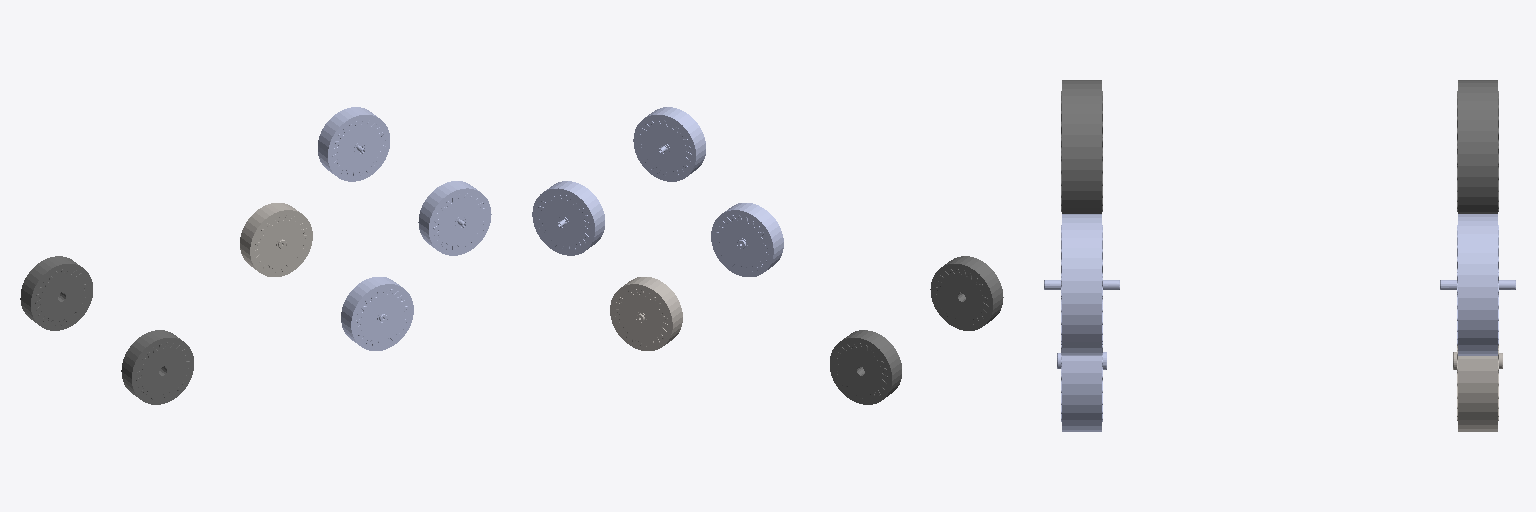
--- What the picture shows (computed from the rendered views, not written in the file) ---
Views: 3 orthographic renders of the robot side by side, from view 1: azimuth 30°, elevation 25°; view 2: azimuth 150°, elevation 25°; view 3: azimuth 270°, elevation 25°.
Robot: Boddy_ASM_URDF — 65 links, 64 joints (62 continuous, 2 fixed); root link base_footprint_link; default pose: every joint at zero.
Links seen in each view (by area): view 1: RF_link, LC_link, RR_link, RC_link, LR_link, LF_link; view 2: RR_link, LF_link, RF_link, LC_link, RC_link, LR_link; view 3: RF_link, LF_link, RR_link, LR_link, RC_link, LC_link.
Link boxes in pixels (x1,y1,x2,y2): RF_link: [418, 181, 491, 255]; LC_link: [240, 203, 312, 276]; RR_link: [121, 330, 193, 404]; RC_link: [341, 277, 413, 350]; LR_link: [20, 256, 92, 330]; LF_link: [318, 107, 389, 181]; RR_link: [930, 256, 1003, 330]; LF_link: [532, 181, 604, 255]; RF_link: [633, 107, 705, 181]; LC_link: [610, 277, 682, 350]; RC_link: [711, 203, 783, 276]; LR_link: [830, 330, 901, 404]; RF_link: [1044, 214, 1119, 355]; LF_link: [1440, 214, 1515, 355]; RR_link: [1061, 80, 1102, 213]; LR_link: [1457, 80, 1498, 213]; RC_link: [1057, 345, 1106, 431]; LC_link: [1453, 345, 1502, 431].
Bounding box of the posed robot: 0.9739 × 0.5635 × 0.3681 m (x, y, z).
6 mesh visuals loaded from 7 distinct referenced files (6 binary STL); not drawn: 1 (reference not matched to a file when rendering).

URDF robot description (Boddy_ASM_URDF):
<?xml version="1.0" encoding="utf-8"?>
<!-- This URDF was automatically created by SolidWorks to URDF Exporter! Originally created by Stephen Brawner ([email redacted]) 
     Commit Version: 1.6.0-1-g15f4949  Build Version: 1.6.7594.29634
     For more information, please see http://wiki.ros.org/sw_urdf_exporter -->
<robot
  name="Boddy_ASM_URDF">
  <link
    name="base_footprint_link">
    <inertial>
      <origin
        xyz="0.0886304970973052 -0.000665140812059151 0.142418053332497"
        rpy="0 0 0" />
      <!--<mass
        value="39.3142754467073" />
      <inertia
        ixx="0.188614637728355"
        ixy="0.000145945279032254"
        ixz="-0.175356144540221"
        iyy="1.08591744784198"
        iyz="-9.63685350508099E-08"
        izz="1.02996485886966" />-->
    </inertial>
    <!--<visual>
      <origin
        xyz="0 0 0"
        rpy="0 0 0" />
      <geometry>
        <mesh
          filename="package://Boddy_ASM_URDF/meshes/base_footprint_link.STL" />
      </geometry>
      <material
        name="">
        <color
          rgba="0.898039215686275 0.917647058823529 0.929411764705882 1" />
      </material>
    </visual>
    <collision>
      <origin
        xyz="0 0 0"
        rpy="0 0 0" />
      <geometry>
        <mesh
          filename="package://Boddy_ASM_URDF/meshes/base_footprint_link.STL" />
      </geometry>
    </collision>-->
  </link>
  <link
    name="base_link">
    <inertial>
      <origin
        xyz="0.0885022800321764 -0.000664311130172845 0.0998668100478159"
        rpy="0 0 0" />
      <mass
        value="60.0" />
      <inertia
        ixx="0.188631810597237"
        ixy="0.000146034969119567"
        ixz="-0.175356144540221"
        iyy="1.08594951471129"
        iyz="-9.63685350508217E-08"
        izz="1.02998223043314" />
    </inertial>
    <visual>
      <origin
        xyz="0 0 0"
        rpy="0 0 0" />
      <geometry>
        <mesh
          filename="package://Boddy_ASM_URDF/meshes/base_link.STL" />
      </geometry>
      <material
        name="">
        <color
          rgba="0.792156862745098 0.819607843137255 0.933333333333333 1" />
      </material>
    </visual>
    <collision>
      <origin
        xyz="0 0 0"
        rpy="0 0 0" />
      <geometry>
        <mesh
          filename="package://Boddy_ASM_URDF/meshes/base_link.STL" />
      </geometry>
    </collision>
  </link>
  <joint
    name="base_joint"
    type="fixed">
    <origin
      xyz="0 0 0.042500000000007"
      rpy="0 0 0" />
    <parent
      link="base_footprint_link" />
    <child
      link="base_link" />
    <axis
      xyz="0 0 0" />
  </joint>
  <link
    name="RR_link">
    <inertial>
      <origin
        xyz="-1.43149809520016E-06 -1.66533453693773E-16 -8.67103456958507E-06"
        rpy="0 0 0" />
      <mass
        value="1.00559653274061" />
      <inertia
        ixx="0.00203390050990004"
        ixy="-5.70414162439341E-18"
        ixz="1.70128504708999E-08"
        iyy="0.00366219642188027"
        iyz="6.1227440954987E-18"
        izz="0.00203400075341603" />
    </inertial>
    <visual>
      <origin
        xyz="0 0 0"
        rpy="0 0 0" />
      <geometry>
        <mesh
          filename="package://Boddy_ASM_URDF/meshes/RR_link.STL" />
      </geometry>
      <material
        name="">
        <color
          rgba="0.498039215686275 0.498039215686275 0.498039215686275 1" />
      </material>
    </visual>
    <collision>
      <origin
        xyz="0 0 0"
        rpy="0 0 0" />
      <geometry>
        <mesh
          filename="package://Boddy_ASM_URDF/meshes/RR_link.STL" />
      </geometry>
    </collision>
  </link>
  <joint
    name="RR_joint"
    type="continuous">
    <origin
      xyz="-0.23441 -0.23675 0.04"
      rpy="0 0 0" />
    <parent
      link="base_link" />
    <child
      link="RR_link" />
    <axis
      xyz="0 1 0" />
  </joint>
  <link
    name="RC_link">
    <inertial>
      <origin
        xyz="-1.38777878078145E-14 6.13173705731884E-05 1.58206781009085E-14"
        rpy="0 0 0" />
      <mass
        value="1.15086872360129" />
      <inertia
        ixx="0.00207722078878318"
        ixy="-2.16375942141872E-17"
        ixz="-3.43712572793804E-19"
        iyy="0.00367027539507047"
        iyz="6.1429085707683E-18"
        izz="0.00207722078878318" />
    </inertial>
    <visual>
      <origin
        xyz="0 0 0"
        rpy="0 0 0" />
      <geometry>
        <mesh
          filename="package://Boddy_ASM_URDF/meshes/RC_link.STL" />
      </geometry>
      <material
        name="">
        <color
          rgba="0.792156862745098 0.819607843137255 0.933333333333333 1" />
      </material>
    </visual>
    <collision>
      <origin
        xyz="0 0 0"
        rpy="0 0 0" />
      <geometry>
        <mesh
          filename="package://Boddy_ASM_URDF/meshes/RC_link.STL" />
      </geometry>
    </collision>
  </link>
  <joint
    name="RC_joint"
    type="continuous">
    <origin
      xyz="0.35959 -0.23675 0.04"
      rpy="0 0 0" />
    <parent
      link="base_link" />
    <child
      link="RC_link" />
    <axis
      xyz="0 1 0" />
  </joint>
  <link
    name="RF_link">
    <inertial>
      <origin
        xyz="-4.44089209850063E-16 1.66533453693773E-16 3.33066907387547E-16"
        rpy="0 0 0" />
      <mass
        value="1.02058176661685" />
      <inertia
        ixx="0.00203663882467359"
        ixy="-2.26850575924892E-17"
        ixz="-3.59650837282141E-20"
        iyy="0.00366291072602978"
        iyz="5.64154012666327E-18"
        izz="0.00203663882467359" />
    </inertial>
    <visual>
      <origin
        xyz="0 0 0"
        rpy="0 0 0" />
      <geometry>
        <mesh
          filename="package://Boddy_ASM_URDF/meshes/RF_link.STL" />
      </geometry>
      <material
        name="">
        <color
          rgba="0.792156862745098 0.819607843137255 0.933333333333333 1" />
      </material>
    </visual>
    <collision>
      <origin
        xyz="0 0 0"
        rpy="0 0 0" />
      <geometry>
        <mesh
          filename="package://Boddy_ASM_URDF/meshes/RF_link.STL" />
      </geometry>
    </collision>
  </link>
  <joint
    name="RF_joint"
    type="continuous">
    <origin
      xyz="0.5695 -0.23675 0.23814"
      rpy="0 0 0" />
    <parent
      link="base_link" />
    <child
      link="RF_link" />
    <axis
      xyz="0 1 0" />
  </joint>
  <link
    name="LR_link">
    <inertial>
      <origin
        xyz="2.01678320191356E-06 1.11022302462516E-16 -8.5538652853101E-06"
        rpy="0 0 0" />
      <mass
        value="1.00559653274061" />
      <inertia
        ixx="0.00203390327611052"
        ixy="-2.28103233706249E-17"
        ixz="-2.36448688868265E-08"
        iyy="0.00366219642188026"
        iyz="5.43986477440845E-18"
        izz="0.00203399798720556" />
    </inertial>
    <visual>
      <origin
        xyz="0 0 0"
        rpy="0 0 0" />
      <geometry>
        <mesh
          filename="package://Boddy_ASM_URDF/meshes/LR_link.STL" />
      </geometry>
      <material
        name="">
        <color
          rgba="0.498039215686275 0.498039215686275 0.498039215686275 1" />
      </material>
    </visual>
    <collision>
      <origin
        xyz="0 0 0"
        rpy="0 0 0" />
      <geometry>
        <mesh
          filename="package://Boddy_ASM_URDF/meshes/LR_link.STL" />
      </geometry>
    </collision>
  </link>
  <joint
    name="LR_joint"
    type="continuous">
    <origin
      xyz="-0.23441 0.23675 0.04"
      rpy="0 0 0" />
    <parent
      link="base_link" />
    <child
      link="LR_link" />
    <axis
      xyz="0 1 0" />
  </joint>
  <link
    name="LC_link">
    <inertial>
      <origin
        xyz="2.22044604925031E-16 -6.1317370563696E-05 1.66533453693773E-16"
        rpy="0 0 0" />
      <mass
        value="1.15086872360129" />
      <inertia
        ixx="0.00207722078878318"
        ixy="-2.3070709112146E-17"
        ixz="-1.73892246360263E-19"
        iyy="0.00367027539507048"
        iyz="6.08191825531369E-18"
        izz="0.00207722078878318" />
    </inertial>
    <visual>
      <origin
        xyz="0 0 0"
        rpy="0 0 0" />
      <geometry>
        <mesh
          filename="package://Boddy_ASM_URDF/meshes/LC_link.STL" />
      </geometry>
      <material
        name="">
        <color
          rgba="0.776470588235294 0.756862745098039 0.737254901960784 1" />
      </material>
    </visual>
    <collision>
      <origin
        xyz="0 0 0"
        rpy="0 0 0" />
      <geometry>
        <mesh
          filename="package://Boddy_ASM_URDF/meshes/LC_link.STL" />
      </geometry>
    </collision>
  </link>
  <joint
    name="LC_joint"
    type="continuous">
    <origin
      xyz="0.35959 0.23675 0.04"
      rpy="0 0 0" />
    <parent
      link="base_link" />
    <child
      link="LC_link" />
    <axis
      xyz="0 1 0" />
  </joint>
  <link
    name="LF_link">
    <inertial>
      <origin
        xyz="0 -8.88178419700125E-16 2.22044604925031E-16"
        rpy="0 0 0" />
      <mass
        value="1.02058176661685" />
      <inertia
        ixx="0.00203663882467359"
        ixy="-2.22358323420399E-17"
        ixz="-7.2754616081391E-19"
        iyy="0.00366291072602978"
        iyz="5.60191412891475E-18"
        izz="0.00203663882467359" />
    </inertial>
    <visual>
      <origin
        xyz="0 0 0"
        rpy="0 0 0" />
      <geometry>
        <mesh
          filename="package://Boddy_ASM_URDF/meshes/LF_link.STL" />
      </geometry>
      <material
        name="">
        <color
          rgba="0.792156862745098 0.819607843137255 0.933333333333333 1" />
      </material>
    </visual>
    <collision>
      <origin
        xyz="0 0 0"
        rpy="0 0 0" />
      <geometry>
        <mesh
          filename="package://Boddy_ASM_URDF/meshes/LF_link.STL" />
      </geometry>
    </collision>
  </link>
  <joint
    name="LF_joint"
    type="continuous">
    <origin
      xyz="0.5695 0.23675 0.23814"
      rpy="0 0 0" />
    <parent
      link="base_link" />
    <child
      link="LF_link" />
    <axis
      xyz="0 1 0" />
  </joint>









<!-- ================================================================================ -->

  <link
    name="r1_link">
    <inertial>
      <origin
        xyz="-1.40149809520016E-06 -1.66533453693773E-16 -8.67103456958507E-06"
        rpy="0 0 0" />
      <mass
        value="0.3" />
      <inertia
        ixx="0.00203390050990004"
        ixy="-5.70414162439341E-18"
        ixz="1.70128504708999E-08"
        iyy="0.00366219642188027"
        iyz="6.1227440954987E-18"
        izz="0.00203400075341603" />
    </inertial>
    <!--<visual>
      <origin
        xyz="0 0 0"
        rpy="0 0 0" />
      <geometry>
        <mesh
          filename="package://Boddy_ASM_URDF/meshes/RR_link.STL" />
      </geometry>
      <material
        name="">
        <color
          rgba="0.498039215686275 0.498039215686275 0.498039215686275 1" />
      </material>
    </visual>-->
    <collision>
      <origin
        xyz="0 0 0"
        rpy="0 0 0" />
      <geometry>
        <mesh
          filename="package://Boddy_ASM_URDF/meshes/RR_link.STL" />
      </geometry>
    </collision>
  </link>
  <joint
    name="r1_joint"
    type="continuous">
    <origin
      xyz="-0.20441 -0.23675 0.04"
      rpy="0 0 0" />
    <parent
      link="base_link" />
    <child
      link="r1_link" />
    <axis
      xyz="0 1 0" />
  </joint>


  <link
    name="r2_link">
    <inertial>
      <origin
        xyz="-1.37149809520016E-06 -1.66533453693773E-16 -8.67103456958507E-06"
        rpy="0 0 0" />
      <mass
        value="0.3" />
      <inertia
        ixx="0.00203390050990004"
        ixy="-5.70414162439341E-18"
        ixz="1.70128504708999E-08"
        iyy="0.00366219642188027"
        iyz="6.1227440954987E-18"
        izz="0.00203400075341603" />
    </inertial>
    <!--<visual>
      <origin
        xyz="0 0 0"
        rpy="0 0 0" />
      <geometry>
        <mesh
          filename="package://Boddy_ASM_URDF/meshes/RR_link.STL" />
      </geometry>
      <material
        name="">
        <color
          rgba="0.498039215686275 0.498039215686275 0.498039215686275 1" />
      </material>
    </visual>-->
    <collision>
      <origin
        xyz="0 0 0"
        rpy="0 0 0" />
      <geometry>
        <mesh
          filename="package://Boddy_ASM_URDF/meshes/RR_link.STL" />
      </geometry>
    </collision>
  </link>
  <joint
    name="r2_joint"
    type="continuous">
    <origin
      xyz="-0.17441 -0.23675 0.04"
      rpy="0 0 0" />
    <parent
      link="base_link" />
    <child
      link="r2_link" />
    <axis
      xyz="0 1 0" />
  </joint>


  <link
    name="r3_link">
    <inertial>
      <origin
        xyz="-1.34149809520016E-06 -1.66533453693773E-16 -8.67103456958507E-06"
        rpy="0 0 0" />
      <mass
        value="0.3" />
      <inertia
        ixx="0.00203390050990004"
        ixy="-5.70414162439341E-18"
        ixz="1.70128504708999E-08"
        iyy="0.00366219642188027"
        iyz="6.1227440954987E-18"
        izz="0.00203400075341603" />
    </inertial>
    <!--<visual>
      <origin
        xyz="0 0 0"
        rpy="0 0 0" />
      <geometry>
        <mesh
          filename="package://Boddy_ASM_URDF/meshes/RR_link.STL" />
      </geometry>
      <material
        name="">
        <color
          rgba="0.498039215686275 0.498039215686275 0.498039215686275 1" />
      </material>
    </visual>-->
    <collision>
      <origin
        xyz="0 0 0"
        rpy="0 0 0" />
      <geometry>
        <mesh
          filename="package://Boddy_ASM_URDF/meshes/RR_link.STL" />
      </geometry>
    </collision>
  </link>
  <joint
    name="r3_joint"
    type="continuous">
    <origin
      xyz="-0.14441 -0.23675 0.04"
      rpy="0 0 0" />
    <parent
      link="base_link" />
    <child
      link="r3_link" />
    <axis
      xyz="0 1 0" />
  </joint>


  <link
    name="r4_link">
    <inertial>
      <origin
        xyz="-1.31149809520016E-06 -1.66533453693773E-16 -8.67103456958507E-06"
        rpy="0 0 0" />
      <mass
        value="0.3" />
      <inertia
        ixx="0.00203390050990004"
        ixy="-5.70414162439341E-18"
        ixz="1.70128504708999E-08"
        iyy="0.00366219642188027"
        iyz="6.1227440954987E-18"
        izz="0.00203400075341603" />
    </inertial>
    <!--<visual>
      <origin
        xyz="0 0 0"
        rpy="0 0 0" />
      <geometry>
        <mesh
          filename="package://Boddy_ASM_URDF/meshes/RR_link.STL" />
      </geometry>
      <material
        name="">
        <color
          rgba="0.498039215686275 0.498039215686275 0.498039215686275 1" />
      </material>
    </visual>-->
    <collision>
      <origin
        xyz="0 0 0"
        rpy="0 0 0" />
      <geometry>
        <mesh
          filename="package://Boddy_ASM_URDF/meshes/RR_link.STL" />
      </geometry>
    </collision>
  </link>
  <joint
    name="r4_joint"
    type="continuous">
    <origin
      xyz="-0.11441 -0.23675 0.04"
      rpy="0 0 0" />
    <parent
      link="base_link" />
    <child
      link="r4_link" />
    <axis
      xyz="0 1 0" />
  </joint>


  <link
    name="r5_link">
    <inertial>
      <origin
        xyz="-1.28149809520016E-06 -1.66533453693773E-16 -8.67103456958507E-06"
        rpy="0 0 0" />
      <mass
        value="0.3" />
      <inertia
        ixx="0.00203390050990004"
        ixy="-5.70414162439341E-18"
        ixz="1.70128504708999E-08"
        iyy="0.00366219642188027"
        iyz="6.1227440954987E-18"
        izz="0.00203400075341603" />
    </inertial>
    <!--<visual>
      <origin
        xyz="0 0 0"
        rpy="0 0 0" />
      <geometry>
        <mesh
          filename="package://Boddy_ASM_URDF/meshes/RR_link.STL" />
      </geometry>
      <material
        name="">
        <color
          rgba="0.498039215686275 0.498039215686275 0.498039215686275 1" />
      </material>
    </visual>-->
    <collision>
      <origin
        xyz="0 0 0"
        rpy="0 0 0" />
      <geometry>
        <mesh
          filename="package://Boddy_ASM_URDF/meshes/RR_link.STL" />
      </geometry>
    </collision>
  </link>
  <joint
    name="r5_joint"
    type="continuous">
    <origin
      xyz="-0.08441 -0.23675 0.04"
      rpy="0 0 0" />
    <parent
      link="base_link" />
    <child
      link="r5_link" />
    <axis
      xyz="0 1 0" />
  </joint>

  <link
    name="r6_link">
    <inertial>
      <origin
        xyz="-1.25149809520016E-06 -1.66533453693773E-16 -8.67103456958507E-06"
        rpy="0 0 0" />
      <mass
        value="0.3" />
      <inertia
        ixx="0.00203390050990004"
        ixy="-5.70414162439341E-18"
        ixz="1.70128504708999E-08"
        iyy="0.00366219642188027"
        iyz="6.1227440954987E-18"
        izz="0.00203400075341603" />
    </inertial>
    <!--<visual>
      <origin
        xyz="0 0 0"
        rpy="0 0 0" />
      <geometry>
        <mesh
          filename="package://Boddy_ASM_URDF/meshes/RR_link.STL" />
      </geometry>
      <material
        name="">
        <color
          rgba="0.498039215686275 0.498039215686275 0.498039215686275 1" />
      </material>
    </visual>-->
    <collision>
      <origin
        xyz="0 0 0"
        rpy="0 0 0" />
      <geometry>
        <mesh
          filename="package://Boddy_ASM_URDF/meshes/RR_link.STL" />
      </geometry>
    </collision>
  </link>
  <joint
    name="r6_joint"
    type="continuous">
    <origin
      xyz="-0.05441 -0.23675 0.04"
      rpy="0 0 0" />
    <parent
      link="base_link" />
    <child
      link="r6_link" />
    <axis
      xyz="0 1 0" />
  </joint>

  <link
    name="r7_link">
    <inertial>
      <origin
        xyz="-1.22149809520016E-06 -1.66533453693773E-16 -8.67103456958507E-06"
        rpy="0 0 0" />
      <mass
        value="0.3" />
      <inertia
        ixx="0.00203390050990004"
        ixy="-5.70414162439341E-18"
        ixz="1.70128504708999E-08"
        iyy="0.00366219642188027"
        iyz="6.1227440954987E-18"
        izz="0.00203400075341603" />
    </inertial>
    <!--<visual>
      <origin
        xyz="0 0 0"
        rpy="0 0 0" />
      <geometry>
        <mesh
          filename="package://Boddy_ASM_URDF/meshes/RR_link.STL" />
      </geometry>
      <material
        name="">
        <color
          rgba="0.498039215686275 0.498039215686275 0.498039215686275 1" />
      </material>
    </visual>-->
    <collision>
      <origin
        xyz="0 0 0"
        rpy="0 0 0" />
      <geometry>
        <mesh
          filename="package://Boddy_ASM_URDF/meshes/RR_link.STL" />
      </geometry>
    </collision>
  </link>
  <joint
    name="r7_joint"
    type="continuous">
    <origin
      xyz="-0.02441 -0.23675 0.04"
      rpy="0 0 0" />
    <parent
      link="base_link" />
    <child
      link="r7_link" />
    <axis
      xyz="0 1 0" />
  </joint>


  <link
    name="r8_link">
    <inertial>
      <origin
        xyz="-1.19149809520016E-06 -1.66533453693773E-16 -8.67103456958507E-06"
        rpy="0 0 0" />
      <mass
        value="0.3" />
      <inertia
        ixx="0.00203390050990004"
        ixy="-5.70414162439341E-18"
        ixz="1.70128504708999E-08"
        iyy="0.00366219642188027"
        iyz="6.1227440954987E-18"
        izz="0.00203400075341603" />
    </inertial>
    <!--<visual>
      <origin
        xyz="0 0 0"
        rpy="0 0 0" />
      <geometry>
        <mesh
          filename="package://Boddy_ASM_URDF/meshes/RR_link.STL" />
      </geometry>
      <material
        name="">
        <color
          rgba="0.498039215686275 0.498039215686275 0.498039215686275 1" />
      </material>
    </visual>-->
    <collision>
      <origin
        xyz="0 0 0"
        rpy="0 0 0" />
      <geometry>
        <mesh
          filename="package://Boddy_ASM_URDF/meshes/RR_link.STL" />
      </geometry>
    </collision>
  </link>
  <joint
    name="r8_joint"
    type="continuous">
    <origin
      xyz="0.01441 -0.23675 0.04"
      rpy="0 0 0" />
    <parent
      link="base_link" />
    <child
      link="r8_link" />
    <axis
      xyz="0 1 0" />
  </joint>


  <link
    name="r9_link">
    <inertial>
      <origin
        xyz="-1.16149809520016E-06 -1.66533453693773E-16 -8.67103456958507E-06"
        rpy="0 0 0" />
      <mass
        value="0.3" />
      <inertia
        ixx="0.00203390050990004"
        ixy="-5.70414162439341E-18"
        ixz="1.70128504708999E-08"
        iyy="0.00366219642188027"
        iyz="6.1227440954987E-18"
        izz="0.00203400075341603" />
    </inertial>
    <!--<visual>
      <origin
        xyz="0 0 0"
        rpy="0 0 0" />
      <geometry>
        <mesh
          filename="package://Boddy_ASM_URDF/meshes/RR_link.STL" />
      </geometry>
      <material
        name="">
        <color
          rgba="0.498039215686275 0.498039215686275 0.498039215686275 1" />
      </material>
    </visual>-->
    <collision>
      <origin
        xyz="0 0 0"
        rpy="0 0 0" />
      <geometry>
        <mesh
          filename="package://Boddy_ASM_URDF/meshes/RR_link.STL" />
      </geometry>
    </collision>
  </link>
  <joint
    name="r9_joint"
    type="continuous">
    <origin
      xyz="0.04441 -0.23675 0.04"
      rpy="0 0 0" />
    <parent
      link="base_link" />
    <child
      link="r9_link" />
    <axis
      xyz="0 1 0" />
  </joint>

  <link
    name="r10_link">
    <inertial>
      <origin
        xyz="-1.13149809520016E-06 -1.66533453693773E-16 -8.67103456958507E-06"
        rpy="0 0 0" />
      <mass
        value="0.3" />
      <inertia
        ixx="0.00203390050990004"
        ixy="-5.70414162439341E-18"
        ixz="1.70128504708999E-08"
        iyy="0.00366219642188027"
        iyz="6.1227440954987E-18"
        izz="0.00203400075341603" />
    </inertial>
    <!--<visual>
      <origin
        xyz="0 0 0"
        rpy="0 0 0" />
      <geometry>
        <mesh
          filename="package://Boddy_ASM_URDF/meshes/RR_link.STL" />
      </geometry>
      <material
        name="">
        <color
          rgba="0.498039215686275 0.498039215686275 0.498039215686275 1" />
      </material>
    </visual>-->
    <collision>
      <origin
        xyz="0 0 0"
        rpy="0 0 0" />
      <geometry>
        <mesh
          filename="package://Boddy_ASM_URDF/meshes/RR_link.STL" />
      </geometry>
    </collision>
  </link>
  <joint
    name="r10_joint"
    type="continuous">
    <origin
      xyz="0.07441 -0.23675 0.04"
      rpy="0 0 0" />
    <parent
      link="base_link" />
    <child
      link="r10_link" />
    <axis
      xyz="0 1 0" />
  </joint>


  <link
    name="r11_link">
    <inertial>
      <origin
        xyz="-1.10149809520016E-06 -1.66533453693773E-16 -8.67103456958507E-06"
        rpy="0 0 0" />
      <mass
        value="0.3" />
      <inertia
        ixx="0.00203390050990004"
        ixy="-5.70414162439341E-18"
        ixz="1.70128504708999E-08"
        iyy="0.00366219642188027"
        iyz="6.1227440954987E-18"
        izz="0.00203400075341603" />
    </inertial>
    <!--<visual>
      <origin
        xyz="0 0 0"
        rpy="0 0 0" />
      <geometry>
        <mesh
          filename="package://Boddy_ASM_URDF/meshes/RR_link.STL" />
      </geometry>
      <material
        name="">
        <color
          rgba="0.498039215686275 0.498039215686275 0.498039215686275 1" />
      </material>
    </visual>-->
    <collision>
      <origin
        xyz="0 0 0"
        rpy="0 0 0" />
      <geometry>
        <mesh
          filename="package://Boddy_ASM_URDF/meshes/RR_link.STL" />
      </geometry>
    </collision>
  </link>
  <joint
    name="r11_joint"
    type="continuous">
    <origin
      xyz="0.10441 -0.23675 0.04"
      rpy="0 0 0" />
    <parent
      link="base_link" />
    <child
      link="r11_link" />
    <axis
      xyz="0 1 0" />
  </joint>


  <link
    name="r12_link">
    <inertial>
      <origin
        xyz="-1.07149809520016E-06 -1.66533453693773E-16 -8.67103456958507E-06"
        rpy="0 0 0" />
      <mass
        value="0.3" />
      <inertia
        ixx="0.00203390050990004"
        ixy="-5.70414162439341E-18"
        ixz="1.70128504708999E-08"
        iyy="0.00366219642188027"
        iyz="6.1227440954987E-18"
        izz="0.00203400075341603" />
    </inertial>
    <!--<visual>
      <origin
        xyz="0 0 0"
        rpy="0 0 0" />
      <geometry>
        <mesh
          filename="package://Boddy_ASM_URDF/meshes/RR_link.STL" />
      </geometry>
      <material
        name="">
        <color
          rgba="0.498039215686275 0.498039215686275 0.498039215686275 1" />
      </material>
    </visual>-->
    <collision>
      <origin
        xyz="0 0 0"
        rpy="0 0 0" />
      <geometry>
        <mesh
          filename="package://Boddy_ASM_URDF/meshes/RR_link.STL" />
      </geometry>
    </collision>
  </link>
  <joint
    name="r12_joint"
    type="continuous">
    <origin
      xyz="0.13441 -0.23675 0.04"
      rpy="0 0 0" />
    <parent
      link="base_link" />
    <child
      link="r12_link" />
    <axis
      xyz="0 1 0" />
  </joint>

  <link
    name="r13_link">
    <inertial>
      <origin
        xyz="-1.04149809520016E-06 -1.66533453693773E-16 -8.67103456958507E-06"
        rpy="0 0 0" />
      <mass
        value="0.3" />
      <inertia
        ixx="0.00203390050990004"
        ixy="-5.70414162439341E-18"
        ixz="1.70128504708999E-08"
        iyy="0.00366219642188027"
        iyz="6.1227440954987E-18"
        izz="0.00203400075341603" />
    </inertial>
    <!--<visual>
      <origin
        xyz="0 0 0"
        rpy="0 0 0" />
      <geometry>
        <mesh
          filename="package://Boddy_ASM_URDF/meshes/RR_link.STL" />
      </geometry>
      <material
        name="">
        <color
          rgba="0.498039215686275 0.498039215686275 0.498039215686275 1" />
      </material>
    </visual>-->
    <collision>
      <origin
        xyz="0 0 0"
        rpy="0 0 0" />
      <geometry>
        <mesh
          filename="package://Boddy_ASM_URDF/meshes/RR_link.STL" />
      </geometry>
    </collision>
  </link>
  <joint
    name="r13_joint"
    type="continuous">
    <origin
      xyz="0.16441 -0.23675 0.04"
      rpy="0 0 0" />
    <parent
      link="base_link" />
    <child
      link="r13_link" />
    <axis
      xyz="0 1 0" />
  </joint>

  <link
    name="r14_link">
    <inertial>
      <origin
        xyz="-1.01149809520016E-06 -1.66533453693773E-16 -8.67103456958507E-06"
        rpy="0 0 0" />
      <mass
        value="0.3" />
      <inertia
        ixx="0.00203390050990004"
        ixy="-5.70414162439341E-18"
        ixz="1.70128504708999E-08"
        iyy="0.00366219642188027"
        iyz="6.1227440954987E-18"
        izz="0.00203400075341603" />
    </inertial>
    <!--<visual>
      <origin
        xyz="0 0 0"
        rpy="0 0 0" />
      <geometry>
        <mesh
          filename="package://Boddy_ASM_URDF/meshes/RR_link.STL" />
      </geometry>
      <material
        name="">
        <color
          rgba="0.498039215686275 0.498039215686275 0.498039215686275 1" />
      </material>
    </visual>-->
    <collision>
      <origin
        xyz="0 0 0"
        rpy="0 0 0" />
      <geometry>
        <mesh
          filename="package://Boddy_ASM_URDF/meshes/RR_link.STL" />
      </geometry>
    </collision>
  </link>
  <joint
    name="r14_joint"
    type="continuous">
    <origin
      xyz="0.19441 -0.23675 0.04"
      rpy="0 0 0" />
    <parent
      link="base_link" />
    <child
      link="r14_link" />
    <axis
      xyz="0 1 0" />
  </joint>



  <link
    name="r15_link">
    <inertial>
      <origin
        xyz="-0.98149809520016E-06 -1.66533453693773E-16 -8.67103456958507E-06"
        rpy="0 0 0" />
      <mass
        value="0.3" />
      <inertia
        ixx="0.00203390050990004"
        ixy="-5.70414162439341E-18"
        ixz="1.70128504708999E-08"
        iyy="0.00366219642188027"
        iyz="6.1227440954987E-18"
        izz="0.00203400075341603" />
    </inertial>
    <!--<visual>
      <origin
        xyz="0 0 0"
        rpy="0 0 0" />
      <geometry>
        <mesh
          filename="package://Boddy_ASM_URDF/meshes/RR_link.STL" />
      </geometry>
      <material
        name="">
        <color
          rgba="0.498039215686275 0.498039215686275 0.498039215686275 1" />
      </material>
    </visual>-->
    <collision>
      <origin
        xyz="0 0 0"
        rpy="0 0 0" />
      <geometry>
        <mesh
          filename="package://Boddy_ASM_URDF/meshes/RR_link.STL" />
      </geometry>
    </collision>
  </link>
  <joint
    name="r15_joint"
    type="continuous">
    <origin
      xyz="0.22441 -0.23675 0.04"
      rpy="0 0 0" />
    <parent
      link="base_link" />
    <child
      link="r15_link" />
    <axis
      xyz="0 1 0" />
  </joint>


  <link
    name="r16_link">
    <inertial>
      <origin
        xyz="-0.95149809520016E-06 -1.66533453693773E-16 -8.67103456958507E-06"
        rpy="0 0 0" />
      <mass
        value="0.3" />
      <inertia
        ixx="0.00203390050990004"
        ixy="-5.70414162439341E-18"
        ixz="1.70128504708999E-08"
        iyy="0.00366219642188027"
        iyz="6.1227440954987E-18"
        izz="0.00203400075341603" />
    </inertial>
    <!--<visual>
      <origin
        xyz="0 0 0"
        rpy="0 0 0" />
      <geometry>
        <mesh
          filename="package://Boddy_ASM_URDF/meshes/RR_link.STL" />
      </geometry>
      <material
        name="">
        <color
          rgba="0.498039215686275 0.498039215686275 0.498039215686275 1" />
      </material>
    </visual>-->
    <collision>
      <origin
        xyz="0 0 0"
        rpy="0 0 0" />
      <geometry>
        <mesh
          filename="package://Boddy_ASM_URDF/meshes/RR_link.STL" />
      </geometry>
    </collision>
  </link>
  <joint
    name="r16_joint"
    type="continuous">
    <origin
      xyz="0.25441 -0.23675 0.04"
      rpy="0 0 0" />
    <parent
      link="base_link" />
    <child
      link="r16_link" />
    <axis
      xyz="0 1 0" />
  </joint>

  <link
    name="r17_link">
    <inertial>
      <origin
        xyz="-0.92149809520016E-06 -1.66533453693773E-16 -8.67103456958507E-06"
        rpy="0 0 0" />
      <mass
        value="0.3" />
      <inertia
        ixx="0.00203390050990004"
        ixy="-5.70414162439341E-18"
        ixz="1.70128504708999E-08"
        iyy="0.00366219642188027"
        iyz="6.1227440954987E-18"
        izz="0.00203400075341603" />
    </inertial>
    <!--<visual>
      <origin
        xyz="0 0 0"
        rpy="0 0 0" />
      <geometry>
        <mesh
          filename="package://Boddy_ASM_URDF/meshes/RR_link.STL" />
      </geometry>
      <material
        name="">
        <color
          rgba="0.498039215686275 0.498039215686275 0.498039215686275 1" />
      </material>
    </visual>-->
    <collision>
      <origin
        xyz="0 0 0"
        rpy="0 0 0" />
      <geometry>
        <mesh
          filename="package://Boddy_ASM_URDF/meshes/RR_link.STL" />
      </geometry>
    </collision>
  </link>
  <joint
    name="r17_joint"
    type="continuous">
    <origin
      xyz="0.28441 -0.23675 0.04"
      rpy="0 0 0" />
    <parent
      link="base_link" />
    <child
      link="r17_link" />
    <axis
      xyz="0 1 0" />
  </joint>


  <link
    name="r18_link">
    <inertial>
      <origin
        xyz="-0.89149809520016E-06 -1.66533453693773E-16 -8.67103456958507E-06"
        rpy="0 0 0" />
      <mass
        value="0.3" />
      <inertia
        ixx="0.00203390050990004"
        ixy="-5.70414162439341E-18"
        ixz="1.70128504708999E-08"
        iyy="0.00366219642188027"
        iyz="6.1227440954987E-18"
        izz="0.00203400075341603" />
    </inertial>
    <!--<visual>
      <origin
        xyz="0 0 0"
        rpy="0 0 0" />
      <geometry>
        <mesh
          filename="package://Boddy_ASM_URDF/meshes/RR_link.STL" />
      </geometry>
      <material
        name="">
        <color
          rgba="0.498039215686275 0.498039215686275 0.498039215686275 1" />
      </material>
    </visual>-->
    <collision>
      <origin
        xyz="0 0 0"
        rpy="0 0 0" />
      <geometry>
        <mesh
          filename="package://Boddy_ASM_URDF/meshes/RR_link.STL" />
      </geometry>
    </collision>
  </link>
  <joint
    name="r18_joint"
    type="continuous">
    <origin
      xyz="0.31441 -0.23675 0.04"
      rpy="0 0 0" />
    <parent
      link="base_link" />
    <child
      link="r18_link" />
    <axis
      xyz="0 1 0" />
  </joint>


  <link
    name="r19_link">
    <inertial>
      <origin
        xyz="-0.86149809520016E-06 -1.66533453693773E-16 -8.67103456958507E-06"
        rpy="0 0 0" />
      <mass
        value="0.3" />
      <inertia
        ixx="0.00203390050990004"
        ixy="-5.70414162439341E-18"
        ixz="1.70128504708999E-08"
        iyy="0.00366219642188027"
        iyz="6.1227440954987E-18"
        izz="0.00203400075341603" />
    </inertial>
    <!--<visual>
      <origin
        xyz="0 0 0"
        rpy="0 0 0" />
      <geometry>
        <mesh
          filename="package://Boddy_ASM_URDF/meshes/RR_link.STL" />
      </geometry>
      <material
        name="">
        <color
          rgba="0.498039215686275 0.498039215686275 0.498039215686275 1" />
      </material>
    </visual>-->
    <collision>
      <origin
        xyz="0 0 0"
        rpy="0 0 0" />
      <geometry>
        <mesh
          filename="package://Boddy_ASM_URDF/meshes/RR_link.STL" />
      </geometry>
    </collision>
  </link>
  <joint
    name="r19_joint"
    type="continuous">
    <origin
      xyz="0.34441 -0.23675 0.04"
      rpy="0 0 0" />
    <parent
      link="base_link" />
    <child
      link="r19_link" />
    <axis
      xyz="0 1 0" />
  </joint>
<!-- ================================================================================ -->
<!-- x +2.3, z+2.0 -->

  <link
    name="r20_link">
    <inertial>
      <origin
        xyz="-1.36577878078145E-14 6.13173705731884E-05 1.60206781009085E-14"
        rpy="0 0 0" />
      <mass
        value="0.3" />
      <inertia
        ixx="0.00207722078878318"
        ixy="-2.16375942141872E-17"
        ixz="-3.43712572793804E-19"
        iyy="0.00367027539507047"
        iyz="6.1429085707683E-18"
        izz="0.00207722078878318" />
    </inertial>
    <!--<visual>
      <origin
        xyz="0 0 0"
        rpy="0 0 0" />
      <geometry>
        <mesh
          filename="package://Boddy_ASM_URDF/meshes/RC_link.STL" />
      </geometry>
      <material
        name="">
        <color
          rgba="0.792156862745098 0.819607843137255 0.933333333333333 1" />
      </material>
    </visual>-->
    <collision>
      <origin
        xyz="0 0 0"
        rpy="0 0 0" />
      <geometry>
        <mesh
          filename="package://Boddy_ASM_URDF/meshes/RC_link.STL" />
      </geometry>
    </collision>
  </link>
  <joint
    name="r20_joint"
    type="continuous">
    <origin
      xyz="0.38159 -0.23675 0.06"
      rpy="0 0 0" />
    <parent
      link="base_link" />
    <child
      link="r20_link" />
    <axis
      xyz="0 1 0" />
  </joint>


  <link
    name="r21_link">
    <inertial>
      <origin
        xyz="-1.34377878078145E-14 6.13173705731884E-05 1.62206781009085E-14"
        rpy="0 0 0" />
      <mass
        value="0.3" />
      <inertia
        ixx="0.00207722078878318"
        ixy="-2.16375942141872E-17"
        ixz="-3.43712572793804E-19"
        iyy="0.00367027539507047"
        iyz="6.1429085707683E-18"
        izz="0.00207722078878318" />
    </inertial>
    <!--<visual>
      <origin
        xyz="0 0 0"
        rpy="0 0 0" />
      <geometry>
        <mesh
          filename="package://Boddy_ASM_URDF/meshes/RC_link.STL" />
      </geometry>
      <material
        name="">
        <color
          rgba="0.792156862745098 0.819607843137255 0.933333333333333 1" />
      </material>
    </visual>-->
    <collision>
      <origin
        xyz="0 0 0"
        rpy="0 0 0" />
      <geometry>
        <mesh
          filename="package://Boddy_ASM_URDF/meshes/RC_link.STL" />
      </geometry>
    </collision>
  </link>
  <joint
    name="r21_joint"
    type="continuous">
    <origin
      xyz="0.40359 -0.23675 0.08"
      rpy="0 0 0" />
    <parent
      link="base_link" />
    <child
      link="r21_link" />
    <axis
      xyz="0 1 0" />
  </joint>


  <link
    name="r22_link">
    <inertial>
      <origin
        xyz="-1.32177878078145E-14 6.13173705731884E-05 1.62206781009085E-14"
        rpy="0 0 0" />
      <mass
        value="0.3" />
      <inertia
        ixx="0.00207722078878318"
        ixy="-2.16375942141872E-17"
        ixz="-3.43712572793804E-19"
        iyy="0.00367027539507047"
        iyz="6.1429085707683E-18"
        izz="0.00207722078878318" />
    </inertial>
    <!--<visual>
      <origin
        xyz="0 0 0"

        rpy="0 0 0" />
      <geometry>
        <mesh
          filename="package://Boddy_ASM_URDF/meshes/RC_link.STL" />
      </geometry>
      <material
        name="">
        <color
          rgba="0.792156862745098 0.819607843137255 0.933333333333333 1" />
      </material>
    </visual>-->
    <collision>
      <origin
        xyz="0 0 0"
        rpy="0 0 0" />
      <geometry>
        <mesh
          filename="package://Boddy_ASM_URDF/meshes/RC_link.STL" />
      </geometry>
    </collision>
  </link>
  <joint
    name="r22_joint"
    type="continuous">
    <origin
      xyz="0.42759 -0.23675 0.10"
      rpy="0 0 0" />
    <parent
      link="base_link" />
    <child
      link="r22_link" />
    <axis
      xyz="0 1 0" />
  </joint>

  <link
    name="r23_link">
    <inertial>
      <origin
        xyz="-1.39977878078145E-14 6.13173705731884E-05 1.64206781009085E-14"
        rpy="0 0 0" />
      <mass
        value="0.3" />
      <inertia
        ixx="0.00207722078878318"
        ixy="-2.16375942141872E-17"
        ixz="-3.43712572793804E-19"
        iyy="0.00367027539507047"
        iyz="6.1429085707683E-18"
        izz="0.00207722078878318" />
    </inertial>
    <!--<visual>
      <origin
        xyz="0 0 0"

        rpy="0 0 0" />
      <geometry>
        <mesh
          filename="package://Boddy_ASM_URDF/meshes/RC_link.STL" />
      </geometry>
      <material
        name="">
        <color
          rgba="0.792156862745098 0.819607843137255 0.933333333333333 1" />
      </material>
    </visual>-->
    <collision>
      <origin
        xyz="0 0 0"
        rpy="0 0 0" />
      <geometry>
        <mesh
          filename="package://Boddy_ASM_URDF/meshes/RC_link.STL" />
      </geometry>
    </collision>
  </link>
  <joint
    name="r23_joint"
    type="continuous">
    <origin
      xyz="0.44959 -0.23675 0.12"
      rpy="0 0 0" />
    <parent
      link="base_link" />
    <child
      link="r23_link" />
    <axis
      xyz="0 1 0" />
  </joint>

  <link
    name="r24_link">
    <inertial>
      <origin
        xyz="-1.37777878078145E-14 6.13173705731884E-05 1.66206781009085E-14"
        rpy="0 0 0" />
      <mass
        value="0.3" />
      <inertia
        ixx="0.00207722078878318"
        ixy="-2.16375942141872E-17"
        ixz="-3.43712572793804E-19"
        iyy="0.00367027539507047"
        iyz="6.1429085707683E-18"
        izz="0.00207722078878318" />
    </inertial>
    <!--<visual>
      <origin
        xyz="0 0 0"

        rpy="0 0 0" />
      <geometry>
        <mesh
          filename="package://Boddy_ASM_URDF/meshes/RC_link.STL" />
      </geometry>
      <material
        name="">
        <color
          rgba="0.792156862745098 0.819607843137255 0.933333333333333 1" />
      </material>
    </visual>-->
    <collision>
      <origin
        xyz="0 0 0"
        rpy="0 0 0" />
      <geometry>
        <mesh
          filename="package://Boddy_ASM_URDF/meshes/RC_link.STL" />
      </geometry>
    </collision>
  </link>
  <joint
    name="r24_joint"
    type="continuous">
    <origin
      xyz="0.47159 -0.23675 0.14"
      rpy="0 0 0" />
    <parent
      link="base_link" />
    <child
      link="r24_link" />
    <axis
      xyz="0 1 0" />
  </joint>


  <link
    name="r25_link">
    <inertial>
      <origin
        xyz="-1.35577878078145E-14 6.13173705731884E-05 1.68206781009085E-14"
        rpy="0 0 0" />
      <mass
        value="0.3" />
      <inertia
        ixx="0.00207722078878318"
        ixy="-2.16375942141872E-17"
        ixz="-3.43712572793804E-19"
        iyy="0.00367027539507047"
        iyz="6.1429085707683E-18"
        izz="0.00207722078878318" />
    </inertial>
    <!--<visual>
      <origin
        xyz="0 0 0"

        rpy="0 0 0" />
      <geometry>
        <mesh
          filename="package://Boddy_ASM_URDF/meshes/RC_link.STL" />
      </geometry>
      <material
        name="">
        <color
          rgba="0.792156862745098 0.819607843137255 0.933333333333333 1" />
      </material>
    </visual>-->
    <collision>
      <origin
        xyz="0 0 0"

        rpy="0 0 0" />
      <geometry>
        <mesh
          filename="package://Boddy_ASM_URDF/meshes/RC_link.STL" />
      </geometry>
    </collision>
  </link>
  <joint
    name="r25_joint"
    type="continuous">
    <origin
      xyz="0.49359 -0.23675 0.16"
      rpy="0 0 0" />
    <parent
      link="base_link" />
    <child
      link="r25_link" />
    <axis
      xyz="0 1 0" />
  </joint>

  <link
    name="r26_link">
    <inertial>
      <origin
        xyz="-1.33377878078145E-14 6.13173705731884E-05 1.70206781009085E-14"
        rpy="0 0 0" />
      <mass
        value="0.3" />
      <inertia
        ixx="0.00207722078878318"
        ixy="-2.16375942141872E-17"
        ixz="-3.43712572793804E-19"
        iyy="0.00367027539507047"
        iyz="6.1429085707683E-18"
        izz="0.00207722078878318" />
    </inertial>
    <!--<visual>
      <origin
        xyz="0 0 0"

        rpy="0 0 0" />
      <geometry>
        <mesh
          filename="package://Boddy_ASM_URDF/meshes/RC_link.STL" />
      </geometry>
      <material
        name="">
        <color
          rgba="0.792156862745098 0.819607843137255 0.933333333333333 1" />
      </material>
    </visual>-->
    <collision>
      <origin
        xyz="0 0 0"
        rpy="0 0 0" />
      <geometry>
        <mesh
          filename="package://Boddy_ASM_URDF/meshes/RC_link.STL" />
      </geometry>
    </collision>
  </link>
  <joint
    name="r26_joint"
    type="continuous">
    <origin
      xyz="0.51559 -0.23675 0.18"
      rpy="0 0 0" />
    <parent
      link="base_link" />
    <child
      link="r26_link" />
    <axis
      xyz="0 1 0" />
  </joint>

  <link
    name="r27_link">
    <inertial>
      <origin
        xyz="-1.31177878078145E-14 6.13173705731884E-05 1.72206781009085E-14"
        rpy="0 0 0" />
      <mass
        value="0.3" />
      <inertia
        ixx="0.00207722078878318"
        ixy="-2.16375942141872E-17"
        ixz="-3.43712572793804E-19"
        iyy="0.00367027539507047"
        iyz="6.1429085707683E-18"
        izz="0.00207722078878318" />
    </inertial>
    <!--<visual>
      <origin
        xyz="0 0 0"

        rpy="0 0 0" />
      <geometry>
        <mesh
          filename="package://Boddy_ASM_URDF/meshes/RC_link.STL" />
      </geometry>
      <material
        name="">
        <color
          rgba="0.792156862745098 0.819607843137255 0.933333333333333 1" />
      </material>
    </visual>-->
    <collision>
      <origin
        xyz="0 0 0"
        rpy="0 0 0" />
      <geometry>
        <mesh
          filename="package://Boddy_ASM_URDF/meshes/RC_link.STL" />
      </geometry>
    </collision>
  </link>
  <joint
    name="r27_joint"
    type="continuous">
    <origin
      xyz="0.53759 -0.23675 0.20"
      rpy="0 0 0" />
    <parent
      link="base_link" />
    <child
      link="r27_link" />
    <axis
      xyz="0 1 0" />
  </joint>

  <link
    name="r28_link">
    <inertial>
      <origin
        xyz="-1.28977878078145E-14 6.13173705731884E-05 1.74206781009085E-14"
        rpy="0 0 0" />
      <mass
        value="0.3" />
      <inertia
        ixx="0.00207722078878318"
        ixy="-2.16375942141872E-17"
        ixz="-3.43712572793804E-19"
        iyy="0.00367027539507047"
        iyz="6.1429085707683E-18"
        izz="0.00207722078878318" />
    </inertial>
    <!--<visual>
      <origin
        xyz="0 0 0"

        rpy="0 0 0" />
      <geometry>
        <mesh
          filename="package://Boddy_ASM_URDF/meshes/RC_link.STL" />
      </geometry>
      <material
        name="">
        <color
          rgba="0.792156862745098 0.819607843137255 0.933333333333333 1" />
      </material>
    </visual>-->
    <collision>
      <origin
        xyz="0 0 0"
        rpy="0 0 0" />
      <geometry>
        <mesh
          filename="package://Boddy_ASM_URDF/meshes/RC_link.STL" />
      </geometry>
    </collision>
  </link>
  <joint
    name="r28_joint"
    type="continuous">
    <origin
      xyz="0.55959 -0.23675 0.22"
      rpy="0 0 0" />
    <parent
      link="base_link" />
    <child
      link="r28_link" />
    <axis
      xyz="0 1 0" />
  </joint>


<!-- ================================================================================ -->
<!-- ================================================================================ -->

  <link
    name="l1_link">
    <inertial>
      <origin
        xyz="2.04678320191356E-06 1.11022302462516E-16 -8.5538652853101E-06"
        rpy="0 0 0" />
      <mass
        value="0.3" />
      <inertia
        ixx="0.00203390327611052"
        ixy="-2.28103233706249E-17"
        ixz="-2.36448688868265E-08"
        iyy="0.00366219642188026"
        iyz="5.43986477440845E-18"
        izz="0.00203399798720556" />
    </inertial>
    <!--<visual>
      <origin
        xyz="0 0 0"
        rpy="0 0 0" />
      <geometry>
        <mesh
          filename="package://Boddy_ASM_URDF/meshes/LR_link.STL" />
      </geometry>
      <material
        name="">
        <color
          rgba="0.498039215686275 0.498039215686275 0.498039215686275 1" />
      </material>
    </visual>-->
    <collision>
      <origin
        xyz="0 0 0"
        rpy="0 0 0" />
      <geometry>
        <mesh
          filename="package://Boddy_ASM_URDF/meshes/LR_link.STL" />
      </geometry>
    </collision>
  </link>
  <joint
    name="l1_joint"
    type="continuous">
    <origin
      xyz="-0.20441 0.23675 0.04"
      rpy="0 0 0" />
    <parent
      link="base_link" />
    <child
      link="l1_link" />
    <axis
      xyz="0 1 0" />
  </joint>


  <link
    name="l2_link">
    <inertial>
      <origin
        xyz="2.07678320191356E-06 1.11022302462516E-16 -8.5538652853101E-06"
        rpy="0 0 0" />
      <mass
        value="0.3" />
      <inertia
        ixx="0.00203390327611052"
        ixy="-2.28103233706249E-17"
        ixz="-2.36448688868265E-08"
        iyy="0.00366219642188026"
        iyz="5.43986477440845E-18"
        izz="0.00203399798720556" />
    </inertial>
    <!--<visual>
      <origin
        xyz="0 0 0"
        rpy="0 0 0" />
      <geometry>
        <mesh
          filename="package://Boddy_ASM_URDF/meshes/LR_link.STL" />
      </geometry>
      <material
        name="">
        <color
          rgba="0.498039215686275 0.498039215686275 0.498039215686275 1" />
      </material>
    </visual>-->
    <collision>
      <origin
        xyz="0 0 0"
        rpy="0 0 0" />
      <geometry>
        <mesh
          filename="package://Boddy_ASM_URDF/meshes/LR_link.STL" />
      </geometry>
    </collision>
  </link>
  <joint
    name="l2_joint"
    type="continuous">
    <origin
      xyz="-0.17441 0.23675 0.04"
      rpy="0 0 0" />
    <parent
      link="base_link" />
    <child
      link="l2_link" />
    <axis
      xyz="0 1 0" />
  </joint>


  <link
    name="l3_link">
    <inertial>
      <origin
        xyz="2.10678320191356E-06 1.11022302462516E-16 -8.5538652853101E-06"
        rpy="0 0 0" />
      <mass
        value="0.3" />
      <inertia
        ixx="0.00203390327611052"
        ixy="-2.28103233706249E-17"
        ixz="-2.36448688868265E-08"
        iyy="0.00366219642188026"
        iyz="5.43986477440845E-18"
        izz="0.00203399798720556" />
    </inertial>
    <!--<visual>
      <origin
        xyz="0 0 0"
        rpy="0 0 0" />
      <geometry>
        <mesh
          filename="package://Boddy_ASM_URDF/meshes/LR_link.STL" />
      </geometry>
      <material
        name="">
        <color
          rgba="0.498039215686275 0.498039215686275 0.498039215686275 1" />
      </material>
    </visual>-->
    <collision>
      <origin
        xyz="0 0 0"
        rpy="0 0 0" />
      <geometry>
        <mesh
          filename="package://Boddy_ASM_URDF/meshes/LR_link.STL" />
      </geometry>
    </collision>
  </link>
  <joint
    name="l3_joint"
    type="continuous">
    <origin

      xyz="-0.14441 0.23675 0.04"
      rpy="0 0 0" />
    <parent
      link="base_link" />
    <child
      link="l3_link" />
    <axis
      xyz="0 1 0" />
  </joint>

  <link
    name="l4_link">
    <inertial>
      <origin
        xyz="2.13678320191356E-06 1.11022302462516E-16 -8.5538652853101E-06"
        rpy="0 0 0" />
      <mass
        value="0.3" />
      <inertia
        ixx="0.00203390327611052"
        ixy="-2.28103233706249E-17"
        ixz="-2.36448688868265E-08"
        iyy="0.00366219642188026"
        iyz="5.43986477440845E-18"
        izz="0.00203399798720556" />
    </inertial>
    <!--<visual>
      <origin
        xyz="0 0 0"
        rpy="0 0 0" />
      <geometry>
        <mesh
          filename="package://Boddy_ASM_URDF/meshes/LR_link.STL" />
      </geometry>
      <material
        name="">
        <color
          rgba="0.498039215686275 0.498039215686275 0.498039215686275 1" />
      </material>
    </visual>-->
    <collision>
      <origin
        xyz="0 0 0"
        rpy="0 0 0" />
      <geometry>
        <mesh
          filename="package://Boddy_ASM_URDF/meshes/LR_link.STL" />
      </geometry>
    </collision>
  </link>
  <joint
    name="l4_joint"
    type="continuous">
    <origin
      xyz="-0.11441 0.23675 0.04"
      rpy="0 0 0" />
    <parent
      link="base_link" />
    <child
      link="l4_link" />
    <axis
      xyz="0 1 0" />
  </joint>

  <link
    name="l5_link">
    <inertial>
      <origin
        xyz="2.16678320191356E-06 1.11022302462516E-16 -8.5538652853101E-06"
        rpy="0 0 0" />
      <mass
        value="0.3" />
      <inertia
        ixx="0.00203390327611052"
        ixy="-2.28103233706249E-17"
        ixz="-2.36448688868265E-08"
        iyy="0.00366219642188026"
        iyz="5.43986477440845E-18"
        izz="0.00203399798720556" />
    </inertial>
    <!--<visual>
      <origin
        xyz="0 0 0"
        rpy="0 0 0" />
      <geometry>
        <mesh
          filename="package://Boddy_ASM_URDF/meshes/LR_link.STL" />
      </geometry>
      <material
        name="">
        <color
          rgba="0.498039215686275 0.498039215686275 0.498039215686275 1" />
      </material>
    </visual>-->
    <collision>
      <origin
        xyz="0 0 0"
        rpy="0 0 0" />
      <geometry>
        <mesh
          filename="package://Boddy_ASM_URDF/meshes/LR_link.STL" />
      </geometry>
    </collision>
  </link>
  <joint
    name="l5_joint"
    type="continuous">
    <origin
      xyz="-0.08441 0.23675 0.04"
      rpy="0 0 0" />
    <parent
      link="base_link" />
    <child
      link="l5_link" />
    <axis
      xyz="0 1 0" />
  </joint>


  <link
    name="l6_link">
    <inertial>
      <origin
        xyz="2.19678320191356E-06 1.11022302462516E-16 -8.5538652853101E-06"
        rpy="0 0 0" />
      <mass
        value="0.3" />
      <inertia
        ixx="0.00203390327611052"
        ixy="-2.28103233706249E-17"
        ixz="-2.36448688868265E-08"
        iyy="0.00366219642188026"
        iyz="5.43986477440845E-18"
        izz="0.00203399798720556" />
    </inertial>
    <!--<visual>
      <origin
        xyz="0 0 0"
        rpy="0 0 0" />
      <geometry>
        <mesh
          filename="package://Boddy_ASM_URDF/meshes/LR_link.STL" />
      </geometry>
      <material
        name="">
        <color
          rgba="0.498039215686275 0.498039215686275 0.498039215686275 1" />
      </material>
    </visual>-->
    <collision>
      <origin
        xyz="0 0 0"
        rpy="0 0 0" />
      <geometry>
        <mesh
          filename="package://Boddy_ASM_URDF/meshes/LR_link.STL" />
      </geometry>
    </collision>
  </link>
  <joint
    name="l6_joint"
    type="continuous">
    <origin
      xyz="-0.05441 0.23675 0.04"
      rpy="0 0 0" />
    <parent
      link="base_link" />
    <child
      link="l6_link" />
    <axis
      xyz="0 1 0" />
  </joint>


  <link
    name="l7_link">
    <inertial>
      <origin
        xyz="2.22678320191356E-06 1.11022302462516E-16 -8.5538652853101E-06"
        rpy="0 0 0" />
      <mass
        value="0.3" />
      <inertia
        ixx="0.00203390327611052"
        ixy="-2.28103233706249E-17"
        ixz="-2.36448688868265E-08"
        iyy="0.00366219642188026"
        iyz="5.43986477440845E-18"
        izz="0.00203399798720556" />
    </inertial>
    <!--<visual>
      <origin
        xyz="0 0 0"
        rpy="0 0 0" />
      <geometry>
        <mesh
          filename="package://Boddy_ASM_URDF/meshes/LR_link.STL" />
      </geometry>
      <material
        name="">
        <color
          rgba="0.498039215686275 0.498039215686275 0.498039215686275 1" />
      </material>
    </visual>-->
    <collision>
      <origin
        xyz="0 0 0"
        rpy="0 0 0" />
      <geometry>
        <mesh
          filename="package://Boddy_ASM_URDF/meshes/LR_link.STL" />
      </geometry>
    </collision>
  </link>
  <joint
    name="l7_joint"
    type="continuous">
    <origin
      xyz="-0.02441 0.23675 0.04"
      rpy="0 0 0" />
    <parent
      link="base_link" />
    <child
      link="l7_link" />
    <axis

      xyz="0 1 0" />
  </joint>

  <link
    name="l8_link">
    <inertial>
      <origin
        xyz="2.25678320191356E-06 1.11022302462516E-16 -8.5538652853101E-06"
        rpy="0 0 0" />
      <mass
        value="0.3" />
      <inertia
        ixx="0.00203390327611052"
        ixy="-2.28103233706249E-17"
        ixz="-2.36448688868265E-08"
        iyy="0.00366219642188026"
        iyz="5.43986477440845E-18"
        izz="0.00203399798720556" />
    </inertial>
    <!--<visual>
      <origin
        xyz="0 0 0"
        rpy="0 0 0" />
      <geometry>
        <mesh
          filename="package://Boddy_ASM_URDF/meshes/LR_link.STL" />
      </geometry>
      <material
        name="">
        <color
          rgba="0.498039215686275 0.498039215686275 0.498039215686275 1" />
      </material>
    </visual>-->
    <collision>
      <origin
        xyz="0 0 0"
        rpy="0 0 0" />
      <geometry>
        <mesh
          filename="package://Boddy_ASM_URDF/meshes/LR_link.STL" />
      </geometry>
    </collision>
  </link>
  <joint
    name="l8_joint"
    type="continuous">
    <origin
      xyz="0.01441 0.23675 0.04"
      rpy="0 0 0" />
    <parent
      link="base_link" />
    <child
      link="l8_link" />
    <axis
      xyz="0 1 0" />
  </joint>

  <link
    name="l9_link">
    <inertial>
      <origin
        xyz="2.28678320191356E-06 1.11022302462516E-16 -8.5538652853101E-06"
        rpy="0 0 0" />
      <mass
        value="0.3" />
      <inertia
        ixx="0.00203390327611052"
        ixy="-2.28103233706249E-17"
        ixz="-2.36448688868265E-08"
        iyy="0.00366219642188026"
        iyz="5.43986477440845E-18"
        izz="0.00203399798720556" />
    </inertial>
    <!--<visual>
      <origin
        xyz="0 0 0"
        rpy="0 0 0" />
      <geometry>
        <mesh
          filename="package://Boddy_ASM_URDF/meshes/LR_link.STL" />
      </geometry>
      <material
        name="">
        <color
          rgba="0.498039215686275 0.498039215686275 0.498039215686275 1" />
      </material>
    </visual>-->
    <collision>
      <origin
        xyz="0 0 0"
        rpy="0 0 0" />
      <geometry>
        <mesh
          filename="package://Boddy_ASM_URDF/meshes/LR_link.STL" />
      </geometry>
    </collision>
  </link>
  <joint
    name="l9_joint"
    type="continuous">
    <origin
      xyz="0.04441 0.23675 0.04"
      rpy="0 0 0" />
    <parent
      link="base_link" />
    <child
      link="l9_link" />
    <axis
      xyz="0 1 0" />
  </joint>

  <link
    name="l10_link">
    <inertial>
      <origin
        xyz="2.31678320191356E-06 1.11022302462516E-16 -8.5538652853101E-06"
        rpy="0 0 0" />
      <mass
        value="0.3" />
      <inertia
        ixx="0.00203390327611052"
        ixy="-2.28103233706249E-17"
        ixz="-2.36448688868265E-08"
        iyy="0.00366219642188026"
        iyz="5.43986477440845E-18"
        izz="0.00203399798720556" />
    </inertial>
    <!--<visual>
      <origin
        xyz="0 0 0"
        rpy="0 0 0" />
      <geometry>
        <mesh
          filename="package://Boddy_ASM_URDF/meshes/LR_link.STL" />
      </geometry>
      <material
        name="">
        <color
          rgba="0.498039215686275 0.498039215686275 0.498039215686275 1" />
      </material>
    </visual>-->
    <collision>
      <origin
        xyz="0 0 0"
        rpy="0 0 0" />
      <geometry>
        <mesh
          filename="package://Boddy_ASM_URDF/meshes/LR_link.STL" />
      </geometry>
    </collision>
  </link>
  <joint
    name="l10_joint"
    type="continuous">
    <origin
      xyz="0.07441 0.23675 0.04"
      rpy="0 0 0" />
    <parent
      link="base_link" />
    <child
      link="l10_link" />
    <axis
      xyz="0 1 0" />
  </joint>

  <link
    name="l11_link">
    <inertial>
      <origin
        xyz="2.34678320191356E-06 1.11022302462516E-16 -8.5538652853101E-06"
        rpy="0 0 0" />
      <mass
        value="0.3" />
      <inertia
        ixx="0.00203390327611052"
        ixy="-2.28103233706249E-17"
        ixz="-2.36448688868265E-08"
        iyy="0.00366219642188026"
        iyz="5.43986477440845E-18"
        izz="0.00203399798720556" />
    </inertial>
    <!--<visual>
      <origin
        xyz="0 0 0"
        rpy="0 0 0" />
      <geometry>
        <mesh
          filename="package://Boddy_ASM_URDF/meshes/LR_link.STL" />
      </geometry>
      <material
        name="">
        <color
          rgba="0.498039215686275 0.498039215686275 0.498039215686275 1" />
      </material>
    </visual>-->
    <collision>
      <origin
        xyz="0 0 0"
        rpy="0 0 0" />
      <geometry>
        <mesh
          filename="package://Boddy_ASM_URDF/meshes/LR_link.STL" />
      </geometry>
    </collision>
  </link>
  <joint
    name="l11_joint"
    type="continuous">
    <origin
      xyz="0.10441 0.23675 0.04"
      rpy="0 0 0" />
    <parent
      link="base_link" />
    <child
      link="l11_link" />
    <axis
      xyz="0 1 0" />
  </joint>

  <link
    name="l12_link">
    <inertial>
      <origin
        xyz="2.37678320191356E-06 1.11022302462516E-16 -8.5538652853101E-06"
        rpy="0 0 0" />
      <mass
        value="0.3" />
      <inertia
        ixx="0.00203390327611052"
        ixy="-2.28103233706249E-17"
        ixz="-2.36448688868265E-08"
        iyy="0.00366219642188026"
        iyz="5.43986477440845E-18"
        izz="0.00203399798720556" />
    </inertial>
    <!--<visual>
      <origin
        xyz="0 0 0"
        rpy="0 0 0" />
      <geometry>
        <mesh
          filename="package://Boddy_ASM_URDF/meshes/LR_link.STL" />
      </geometry>
      <material
        name="">
        <color
          rgba="0.498039215686275 0.498039215686275 0.498039215686275 1" />
      </material>
    </visual>-->
    <collision>
      <origin
        xyz="0 0 0"
        rpy="0 0 0" />
      <geometry>
        <mesh
          filename="package://Boddy_ASM_URDF/meshes/LR_link.STL" />
      </geometry>
    </collision>
  </link>
  <joint
    name="l12_joint"
    type="continuous">
    <origin
      xyz="0.13441 0.23675 0.04"
      rpy="0 0 0" />
    <parent
      link="base_link" />
    <child
      link="l12_link" />
    <axis
      xyz="0 1 0" />
  </joint>

  <link
    name="l13_link">
    <inertial>
      <origin
        xyz="2.40678320191356E-06 1.11022302462516E-16 -8.5538652853101E-06"
        rpy="0 0 0" />
      <mass
        value="0.3" />
      <inertia
        ixx="0.00203390327611052"
        ixy="-2.28103233706249E-17"
        ixz="-2.36448688868265E-08"
        iyy="0.00366219642188026"
        iyz="5.43986477440845E-18"
        izz="0.00203399798720556" />
    </inertial>
    <!--<visual>
      <origin
        xyz="0 0 0"
        rpy="0 0 0" />
      <geometry>
        <mesh
          filename="package://Boddy_ASM_URDF/meshes/LR_link.STL" />
      </geometry>
      <material
        name="">
        <color
          rgba="0.498039215686275 0.498039215686275 0.498039215686275 1" />
      </material>
    </visual>-->
    <collision>
      <origin
        xyz="0 0 0"
        rpy="0 0 0" />
      <geometry>
        <mesh
          filename="package://Boddy_ASM_URDF/meshes/LR_link.STL" />
      </geometry>
    </collision>
  </link>
  <joint
    name="l13_joint"
    type="continuous">
    <origin
      xyz="0.16441 0.23675 0.04"
      rpy="0 0 0" />
    <parent
      link="base_link" />
    <child
      link="l13_link" />
    <axis
      xyz="0 1 0" />
  </joint>

  <link
    name="l14_link">
    <inertial>
      <origin
        xyz="2.43678320191356E-06 1.11022302462516E-16 -8.5538652853101E-06"
        rpy="0 0 0" />
      <mass
        value="0.3" />
      <inertia
        ixx="0.00203390327611052"
        ixy="-2.28103233706249E-17"
        ixz="-2.36448688868265E-08"
        iyy="0.00366219642188026"
        iyz="5.43986477440845E-18"
        izz="0.00203399798720556" />
    </inertial>
    <!--<visual>
      <origin
        xyz="0 0 0"
        rpy="0 0 0" />
      <geometry>
        <mesh
          filename="package://Boddy_ASM_URDF/meshes/LR_link.STL" />
      </geometry>
      <material
        name="">
        <color
          rgba="0.498039215686275 0.498039215686275 0.498039215686275 1" />
      </material>
    </visual>-->
    <collision>
      <origin
        xyz="0 0 0"
        rpy="0 0 0" />
      <geometry>
        <mesh
          filename="package://Boddy_ASM_URDF/meshes/LR_link.STL" />
      </geometry>
    </collision>
  </link>
  <joint
    name="l14_joint"
    type="continuous">
    <origin
      xyz="0.19441 0.23675 0.04"
      rpy="0 0 0" />
    <parent
      link="base_link" />
    <child
      link="l14_link" />
    <axis
      xyz="0 1 0" />
  </joint>
  <link
    name="l15_link">
    <inertial>
      <origin
        xyz="2.46678320191356E-06 1.11022302462516E-16 -8.5538652853101E-06"
        rpy="0 0 0" />
      <mass
        value="0.3" />
      <inertia
        ixx="0.00203390327611052"
        ixy="-2.28103233706249E-17"
        ixz="-2.36448688868265E-08"
        iyy="0.00366219642188026"
        iyz="5.43986477440845E-18"
        izz="0.00203399798720556" />
    </inertial>
    <!--<visual>
      <origin
        xyz="0 0 0"
        rpy="0 0 0" />
      <geometry>
        <mesh
          filename="package://Boddy_ASM_URDF/meshes/LR_link.STL" />
      </geometry>
      <material
        name="">
        <color
          rgba="0.498039215686275 0.498039215686275 0.498039215686275 1" />
      </material>
    </visual>-->
    <collision>
      <origin
        xyz="0 0 0"
        rpy="0 0 0" />
      <geometry>
        <mesh
          filename="package://Boddy_ASM_URDF/meshes/LR_link.STL" />
      </geometry>
    </collision>
  </link>
  <joint
    name="l15_joint"
    type="continuous">
    <origin
      xyz="0.22441 0.23675 0.04"
      rpy="0 0 0" />
    <parent
      link="base_link" />
    <child
      link="l15_link" />
    <axis
      xyz="0 1 0" />
  </joint>

  <link
    name="l16_link">
    <inertial>
      <origin
        xyz="2.49678320191356E-06 1.11022302462516E-16 -8.5538652853101E-06"
        rpy="0 0 0" />
      <mass
        value="0.3" />
      <inertia
        ixx="0.00203390327611052"
        ixy="-2.28103233706249E-17"
        ixz="-2.36448688868265E-08"
        iyy="0.00366219642188026"
        iyz="5.43986477440845E-18"
        izz="0.00203399798720556" />
    </inertial>
    <!--<visual>
      <origin
        xyz="0 0 0"
        rpy="0 0 0" />
      <geometry>
        <mesh
          filename="package://Boddy_ASM_URDF/meshes/LR_link.STL" />
      </geometry>
      <material
        name="">
        <color
          rgba="0.498039215686275 0.498039215686275 0.498039215686275 1" />
      </material>
    </visual>-->
    <collision>
      <origin
        xyz="0 0 0"
        rpy="0 0 0" />
      <geometry>
        <mesh
          filename="package://Boddy_ASM_URDF/meshes/LR_link.STL" />
      </geometry>
    </collision>
  </link>
  <joint
    name="l16_joint"
    type="continuous">
    <origin
      xyz="0.25441 0.23675 0.04"
      rpy="0 0 0" />
    <parent
      link="base_link" />
    <child
      link="l16_link" />
    <axis
      xyz="0 1 0" />
  </joint>


  <link
    name="l17_link">
    <inertial>
      <origin
        xyz="2.52678320191356E-06 1.11022302462516E-16 -8.5538652853101E-06"
        rpy="0 0 0" />
      <mass
        value="0.3" />
      <inertia
        ixx="0.00203390327611052"
        ixy="-2.28103233706249E-17"
        ixz="-2.36448688868265E-08"
        iyy="0.00366219642188026"
        iyz="5.43986477440845E-18"
        izz="0.00203399798720556" />
    </inertial>
    <!--<visual>
      <origin
        xyz="0 0 0"
        rpy="0 0 0" />
      <geometry>
        <mesh
          filename="package://Boddy_ASM_URDF/meshes/LR_link.STL" />
      </geometry>

      <material
        name="">
        <color
          rgba="0.498039215686275 0.498039215686275 0.498039215686275 1" />
      </material>
    </visual>-->
    <collision>
      <origin
        xyz="0 0 0"
        rpy="0 0 0" />
      <geometry>
        <mesh
          filename="package://Boddy_ASM_URDF/meshes/LR_link.STL" />
      </geometry>
    </collision>
  </link>
  <joint
    name="l17_joint"
    type="continuous">
    <origin
      xyz="0.28441 0.23675 0.04"
      rpy="0 0 0" />
    <parent
      link="base_link" />
    <child
      link="l17_link" />
    <axis
      xyz="0 1 0" />
  </joint>

  <link
    name="l18_link">
    <inertial>
      <origin
        xyz="2.55678320191356E-06 1.11022302462516E-16 -8.5538652853101E-06"
        rpy="0 0 0" />
      <mass
        value="0.3" />
      <inertia
        ixx="0.00203390327611052"
        ixy="-2.28103233706249E-17"
        ixz="-2.36448688868265E-08"
        iyy="0.00366219642188026"
        iyz="5.43986477440845E-18"
        izz="0.00203399798720556" />
    </inertial>
    <!--<visual>
      <origin
        xyz="0 0 0"
        rpy="0 0 0" />
      <geometry>
        <mesh
          filename="package://Boddy_ASM_URDF/meshes/LR_link.STL" />
      </geometry>
      <material
        name="">
        <color
          rgba="0.498039215686275 0.498039215686275 0.498039215686275 1" />
      </material>
    </visual>-->
    <collision>
      <origin
        xyz="0 0 0"
        rpy="0 0 0" />
      <geometry>
        <mesh
          filename="package://Boddy_ASM_URDF/meshes/LR_link.STL" />
      </geometry>
    </collision>
  </link>
  <joint
    name="l18_joint"
    type="continuous">
    <origin
      xyz="0.31441 0.23675 0.04"
      rpy="0 0 0" />
    <parent
      link="base_link" />
    <child
      link="l18_link" />
    <axis
      xyz="0 1 0" />
  </joint>


  <link
    name="l19_link">
    <inertial>
      <origin
        xyz="2.58678320191356E-06 1.11022302462516E-16 -8.5538652853101E-06"
        rpy="0 0 0" />
      <mass
        value="0.3" />
      <inertia
        ixx="0.00203390327611052"
        ixy="-2.28103233706249E-17"
        ixz="-2.36448688868265E-08"
        iyy="0.00366219642188026"
        iyz="5.43986477440845E-18"
        izz="0.00203399798720556" />
    </inertial>
    <!--<visual>
      <origin
        xyz="0 0 0"
        rpy="0 0 0" />
      <geometry>
        <mesh
          filename="package://Boddy_ASM_URDF/meshes/LR_link.STL" />
      </geometry>
      <material
        name="">
        <color
          rgba="0.498039215686275 0.498039215686275 0.498039215686275 1" />
      </material>
    </visual>-->
    <collision>
      <origin
        xyz="0 0 0"
        rpy="0 0 0" />
      <geometry>
        <mesh
          filename="package://Boddy_ASM_URDF/meshes/LR_link.STL" />
      </geometry>
    </collision>
  </link>
  <joint
    name="l19_joint"
    type="continuous">
    <origin
      xyz="0.34441 0.23675 0.04"
      rpy="0 0 0" />
    <parent
      link="base_link" />
    <child
      link="l19_link" />
    <axis
      xyz="0 1 0" />
  </joint>
<!-- ================================================================================ -->

<!-- x +2.2, z +2.0 -->

  <link
    name="l20_link">
    <inertial>
      <origin
        xyz="2.24244604925031E-16 -6.1317370563696E-05 1.68533453693773E-16"

        rpy="0 0 0" />
      <mass
        value="0.3" />
      <inertia
        ixx="0.00207722078878318"

        ixy="-2.3070709112146E-17"
        ixz="-1.73892246360263E-19"
        iyy="0.00367027539507048"
        iyz="6.08191825531369E-18"
        izz="0.00207722078878318" />
    </inertial>
    <!--<visual>
      <origin
        xyz="0 0 0"

        rpy="0 0 0" />
      <geometry>
        <mesh

          filename="package://Boddy_ASM_URDF/meshes/LC_link.STL" />
      </geometry>
      <material

        name="">
        <color
          rgba="0.776470588235294 0.756862745098039 0.737254901960784 1" />
      </material>
    </visual>-->
    <collision>
      <origin

        xyz="0 0 0"
        rpy="0 0 0" />
      <geometry>
        <mesh
          filename="package://Boddy_ASM_URDF/meshes/LC_link.STL" />
      </geometry>
    </collision>
  </link>
  <joint
    name="l20_joint"

    type="continuous">
    <origin
      xyz="0.38159 0.23675 0.06"
      rpy="0 0 0" />
    <parent
      link="base_link" />
    <child
      link="l20_link" />
    <axis

      xyz="0 1 0" />
  </joint>

  <link
    name="l21_link">
    <inertial>
      <origin
        xyz="2.26444604925031E-16 -6.1317370563696E-05 1.70533453693773E-16"
        rpy="0 0 0" />
      <mass
        value="0.3" />
      <inertia
        ixx="0.00207722078878318"
        ixy="-2.3070709112146E-17"
        ixz="-1.73892246360263E-19"
        iyy="0.00367027539507048"
        iyz="6.08191825531369E-18"
        izz="0.00207722078878318" />
    </inertial>
    <!--<visual>
      <origin
        xyz="0 0 0"
        rpy="0 0 0" />
      <geometry>
        <mesh
          filename="package://Boddy_ASM_URDF/meshes/LC_link.STL" />
      </geometry>
      <material
        name="">
        <color
          rgba="0.776470588235294 0.756862745098039 0.737254901960784 1" />
      </material>
    </visual>-->
    <collision>
      <origin
        xyz="0 0 0"
        rpy="0 0 0" />
      <geometry>
        <mesh
          filename="package://Boddy_ASM_URDF/meshes/LC_link.STL" />
      </geometry>
    </collision>
  </link>
  <joint
    name="l21_joint"
    type="continuous">
    <origin
      xyz="0.40359 0.23675 0.08"
      rpy="0 0 0" />
    <parent
      link="base_link" />
    <child

      link="l21_link" />
    <axis
      xyz="0 1 0" />
  </joint>

  <link
    name="l22_link">
    <inertial>
      <origin
        xyz="2.28644604925031E-16 -6.1317370563696E-05 1.72533453693773E-16"
        rpy="0 0 0" />
      <mass
        value="0.3" />
      <inertia
        ixx="0.00207722078878318"
        ixy="-2.3070709112146E-17"
        ixz="-1.73892246360263E-19"
        iyy="0.00367027539507048"
        iyz="6.08191825531369E-18"
        izz="0.00207722078878318" />
    </inertial>
    <!--<visual>
      <origin
        xyz="0 0 0"
        rpy="0 0 0" />
      <geometry>
        <mesh
          filename="package://Boddy_ASM_URDF/meshes/LC_link.STL" />
      </geometry>
      <material
        name="">
        <color
          rgba="0.776470588235294 0.756862745098039 0.737254901960784 1" />
      </material>
    </visual>-->
    <collision>
      <origin
        xyz="0 0 0"
        rpy="0 0 0" />
      <geometry>
        <mesh
          filename="package://Boddy_ASM_URDF/meshes/LC_link.STL" />
      </geometry>
    </collision>
  </link>
  <joint
    name="l22_joint"
    type="continuous">
    <origin
      xyz="0.42559 0.23675 0.10"
      rpy="0 0 0" />
    <parent
      link="base_link" />
    <child
      link="l22_link" />
    <axis
      xyz="0 1 0" />
  </joint>

  <link
    name="l23_link">
    <inertial>
      <origin
        xyz="2.30844604925031E-16 -6.1317370563696E-05 1.74533453693773E-16"
        rpy="0 0 0" />
      <mass
        value="0.3" />
      <inertia
        ixx="0.00207722078878318"
        ixy="-2.3070709112146E-17"
        ixz="-1.73892246360263E-19"
        iyy="0.00367027539507048"
        iyz="6.08191825531369E-18"
        izz="0.00207722078878318" />
    </inertial>
    <!--<visual>
      <origin

        xyz="0 0 0"
        rpy="0 0 0" />
      <geometry>
        <mesh
          filename="package://Boddy_ASM_URDF/meshes/LC_link.STL" />
      </geometry>
      <material
        name="">
        <color
          rgba="0.776470588235294 0.756862745098039 0.737254901960784 1" />
      </material>
    </visual>-->
    <collision>
      <origin
        xyz="0 0 0"
        rpy="0 0 0" />
      <geometry>
        <mesh
          filename="package://Boddy_ASM_URDF/meshes/LC_link.STL" />
      </geometry>
    </collision>
  </link>
  <joint
    name="l23_joint"
    type="continuous">
    <origin
      xyz="0.44759 0.23675 0.12"
      rpy="0 0 0" />
    <parent
      link="base_link" />
    <child
      link="l23_link" />
    <axis
      xyz="0 1 0" />
  </joint>

  <link
    name="l24_link">
    <inertial>
      <origin
        xyz="2.33044604925031E-16 -6.1317370563696E-05 1.76533453693773E-16"
        rpy="0 0 0" />
      <mass
        value="0.3" />
      <inertia
        ixx="0.00207722078878318"
        ixy="-2.3070709112146E-17"
        ixz="-1.73892246360263E-19"
        iyy="0.00367027539507048"
        iyz="6.08191825531369E-18"
        izz="0.00207722078878318" />
    </inertial>
    <!--<visual>
      <origin
        xyz="0 0 0"
        rpy="0 0 0" />
      <geometry>
        <mesh
          filename="package://Boddy_ASM_URDF/meshes/LC_link.STL" />
      </geometry>
      <material
        name="">
        <color
          rgba="0.776470588235294 0.756862745098039 0.737254901960784 1" />
      </material>
    </visual>-->
    <collision>
      <origin
        xyz="0 0 0"
        rpy="0 0 0" />
      <geometry>
        <mesh
          filename="package://Boddy_ASM_URDF/meshes/LC_link.STL" />
      </geometry>
    </collision>
  </link>
  <joint
    name="l24_joint"
    type="continuous">
    <origin
      xyz="0.46959 0.23675 0.14"
      rpy="0 0 0" />
    <parent
      link="base_link" />
    <child
      link="l24_link" />
    <axis
      xyz="0 1 0" />
  </joint>

  <link
    name="l25_link">
    <inertial>
      <origin
        xyz="2.35244604925031E-16 -6.1317370563696E-05 1.77533453693773E-16"
        rpy="0 0 0" />
      <mass
        value="0.3" />
      <inertia
        ixx="0.00207722078878318"
        ixy="-2.3070709112146E-17"
        ixz="-1.73892246360263E-19"
        iyy="0.00367027539507048"
        iyz="6.08191825531369E-18"
        izz="0.00207722078878318" />
    </inertial>
    <!--<visual>
      <origin
        xyz="0 0 0"
        rpy="0 0 0" />
      <geometry>
        <mesh
          filename="package://Boddy_ASM_URDF/meshes/LC_link.STL" />
      </geometry>
      <material
        name="">
        <color
          rgba="0.776470588235294 0.756862745098039 0.737254901960784 1" />
      </material>
    </visual>-->
    <collision>
      <origin
        xyz="0 0 0"
        rpy="0 0 0" />
      <geometry>
        <mesh
          filename="package://Boddy_ASM_URDF/meshes/LC_link.STL" />
      </geometry>
    </collision>
  </link>
  <joint
    name="l25_joint"
    type="continuous">
    <origin
      xyz="0.49959 0.23675 0.16"
      rpy="0 0 0" />
    <parent
      link="base_link" />
    <child
      link="l25_link" />
    <axis
      xyz="0 1 0" />
  </joint>

  <link
    name="l26_link">
    <inertial>
      <origin
        xyz="2.37444604925031E-16 -6.1317370563696E-05 1.79533453693773E-16"
        rpy="0 0 0" />
      <mass
        value="0.3" />
      <inertia
        ixx="0.00207722078878318"
        ixy="-2.3070709112146E-17"
        ixz="-1.73892246360263E-19"
        iyy="0.00367027539507048"
        iyz="6.08191825531369E-18"
        izz="0.00207722078878318" />
    </inertial>
    <!--<visual>
      <origin
        xyz="0 0 0"
        rpy="0 0 0" />
      <geometry>
        <mesh
          filename="package://Boddy_ASM_URDF/meshes/LC_link.STL" />
      </geometry>
      <material
        name="">
        <color
          rgba="0.776470588235294 0.756862745098039 0.737254901960784 1" />
      </material>
    </visual>-->
    <collision>
      <origin
        xyz="0 0 0"
        rpy="0 0 0" />
      <geometry>
        <mesh
          filename="package://Boddy_ASM_URDF/meshes/LC_link.STL" />
      </geometry>
    </collision>
  </link>
  <joint
    name="l26_joint"
    type="continuous">
    <origin
      xyz="0.52159 0.23675 0.18"
      rpy="0 0 0" />
    <parent
      link="base_link" />
    <child
      link="l26_link" />
    <axis
      xyz="0 1 0" />
  </joint>

  <link
    name="l27_link">
    <inertial>
      <origin
        xyz="2.39644604925031E-16 -6.1317370563696E-05 1.81533453693773E-16"
        rpy="0 0 0" />
      <mass
        value="0.3" />
      <inertia
        ixx="0.00207722078878318"
        ixy="-2.3070709112146E-17"
        ixz="-1.73892246360263E-19"
        iyy="0.00367027539507048"
        iyz="6.08191825531369E-18"
        izz="0.00207722078878318" />
    </inertial>
    <!--<visual>
      <origin
        xyz="0 0 0"
        rpy="0 0 0" />
      <geometry>
        <mesh
          filename="package://Boddy_ASM_URDF/meshes/LC_link.STL" />
      </geometry>
      <material
        name="">
        <color
          rgba="0.776470588235294 0.756862745098039 0.737254901960784 1" />
      </material>
    </visual>-->
    <collision>
      <origin
        xyz="0 0 0"
        rpy="0 0 0" />
      <geometry>
        <mesh
          filename="package://Boddy_ASM_URDF/meshes/LC_link.STL" />
      </geometry>
    </collision>
  </link>
  <joint
    name="l27_joint"
    type="continuous">
    <origin
      xyz="0.54359 0.23675 0.20"
      rpy="0 0 0" />
    <parent
      link="base_link" />
    <child
      link="l27_link" />
    <axis
      xyz="0 1 0" />
  </joint>

  <link
    name="l28_link">
    <inertial>
      <origin
        xyz="2.41844604925031E-16 -6.1317370563696E-05 1.83533453693773E-16"
        rpy="0 0 0" />
      <mass
        value="0.3" />
      <inertia
        ixx="0.00207722078878318"
        ixy="-2.3070709112146E-17"
        ixz="-1.73892246360263E-19"
        iyy="0.00367027539507048"
        iyz="6.08191825531369E-18"
        izz="0.00207722078878318" />
    </inertial>
    <!--<visual>
      <origin
        xyz="0 0 0"
        rpy="0 0 0" />
      <geometry>
        <mesh
          filename="package://Boddy_ASM_URDF/meshes/LC_link.STL" />
      </geometry>
      <material
        name="">
        <color
          rgba="0.776470588235294 0.756862745098039 0.737254901960784 1" />
      </material>
    </visual>-->
    <collision>
      <origin
        xyz="0 0 0"
        rpy="0 0 0" />
      <geometry>
        <mesh
          filename="package://Boddy_ASM_URDF/meshes/LC_link.STL" />
      </geometry>
    </collision>
  </link>
  <joint
    name="l28_joint"
    type="continuous">
    <origin
      xyz="0.56559 0.23675 0.22"
      rpy="0 0 0" />
    <parent
      link="base_link" />
    <child
      link="l28_link" />
    <axis
      xyz="0 1 0" />
  </joint>

<!-- ================================================================================ -->
<!-- ================================================================================ -->

 <joint name="lidar_joint" type="fixed">
    <axis xyz="0 1 0" />
    <origin xyz="0.5 -0.000335907486689213 0.0569327313017182" rpy="0 0 0"/>
    <parent link="base_link"/>
    <child link="lidar_link"/>
  </joint>

<link
    name="lidar_link">
    <inertial>
      <origin
        xyz="0.5 -0.000335907486689213 0.0569327313017182"
        rpy="0 0 0" />
      <mass

        value="0.5" />
      <inertia ixx="1e-6" ixy="0" ixz="0" iyy="1e-6" iyz="0" izz="1e-6" />
    </inertial>
    <!--<visual>
      <origin
        xyz="0 0 0"
        rpy="0 0 0" />
      <geometry>
        <mesh
          filename="package://drok3_description2/meshes/base_link.STL" />
      </geometry>
      <material
        name="">
        <color
          rgba="0.298039215686275 0.298039215686275 0.298039215686275 1" />
      </material>
    </visual>-->
    <!--<collision>
      <origin
        xyz="0 0 0"
        rpy="0 0 0" />

      <geometry>
        <mesh
          filename="package://drok3_description2/meshes/base_link.STL" />
      </geometry>
    </collision>-->
  </link>


  <!-- hokuyo -->
  <gazebo reference="lidar_link">
    <sensor type="ray" name="head_hokuyo_sensor">
      <pose>0 0 0 0 0 0</pose>
      <visualize>true</visualize>
      <update_rate>100</update_rate>
      <ray>
        <scan>
          <horizontal>
            <samples>360</samples>
            <resolution>1</resolution>
            <min_angle>3.141592</min_angle>
            <max_angle>-3.141592</max_angle>
          </horizontal>
        </scan>
        <range>
          <min>0.10</min>
          <max>5</max>
          <resolution>0.05</resolution>
        </range>
        <noise>
          <type>gaussian</type>
          <!-- Noise parameters based on published spec for Hokuyo laser
               achieving "+-30mm" accuracy at range < 10m.  A mean of 0.0m and
               stddev of 0.01m will put 99.7% of samples within 0.03m of the true
               reading. -->
          <mean>0.0</mean>
          <stddev>0.01</stddev>
        </noise>
      </ray>
      <plugin name="gazebo_ros_head_hokuyo_controller" filename="libgazebo_ros_laser.so">
        <topicName>/scan</topicName>
        <frameName>lidar_link</frameName>
      </plugin>
    </sensor>
  </gazebo>




  <gazebo reference="base_link">
    <gravity>true</gravity>
    <sensor name="imu_sensor" type="imu">
      <always_on>true</always_on>
      <update_rate>100</update_rate>
      <visualize>true</visualize>
      <topic>__default_topic__</topic>
      <plugin filename="libgazebo_ros_imu_sensor.so" name="imu_plugin">
        <topicName>imu</topicName>
        <bodyName>base_link</bodyName>
        <updateRateHZ>100.0</updateRateHZ>
        <gaussianNoise>0.0</gaussianNoise>
        <xyzOffset>0 0 0</xyzOffset>
        <rpyOffset>0 0 0</rpyOffset>
        <frameName>base_link</frameName>
        <initialOrientationAsReference>false</initialOrientationAsReference>
      </plugin>
      <pose>0 0 0 0 0 0</pose>
    </sensor>
  </gazebo>

<gazebo>
  <plugin name="skid_steer_drive_controller" filename="libgazebo_ros_skid_steer_drive.so">
    <updateRate>100.0</updateRate>
    <robotNamespace>/</robotNamespace>
    <leftFrontJoint>LC_joint</leftFrontJoint>
    <rightFrontJoint>RC_joint</rightFrontJoint>
    <leftRearJoint>LR_joint</leftRearJoint>
    <rightRearJoint>RR_joint</rightRearJoint>
    <wheelSeparation>0.55</wheelSeparation>
    <wheelDiameter>0.170</wheelDiameter>
    <robotBaseFrame>base_link</robotBaseFrame>
    <torque>20</torque>
    <topicName>cmd_vel</topicName>
    <broadcastTF>false</broadcastTF>
  </plugin>
</gazebo>

<gazebo>
  <plugin name="skid_steer_drive_controller" filename="libgazebo_ros_skid_steer_drive.so">
    <updateRate>100.0</updateRate>
    <robotNamespace>/</robotNamespace>
    <leftFrontJoint>l2_joint</leftFrontJoint>
    <rightFrontJoint>r2_joint</rightFrontJoint>
    <leftRearJoint>l1_joint</leftRearJoint>
    <rightRearJoint>r1_joint</rightRearJoint>
    <wheelSeparation>0.55</wheelSeparation>
    <wheelDiameter>0.170</wheelDiameter>
    <robotBaseFrame>base_link</robotBaseFrame>
    <torque>20</torque>
    <topicName>cmd_vel</topicName>
    <broadcastTF>false</broadcastTF>
  </plugin>
</gazebo>

<gazebo>
  <plugin name="skid_steer_drive_controller" filename="libgazebo_ros_skid_steer_drive.so">
    <updateRate>100.0</updateRate>
    <robotNamespace>/</robotNamespace>
    <leftFrontJoint>l4_joint</leftFrontJoint>
    <rightFrontJoint>r4_joint</rightFrontJoint>
    <leftRearJoint>l3_joint</leftRearJoint>
    <rightRearJoint>r3_joint</rightRearJoint>
    <wheelSeparation>0.55</wheelSeparation>
    <wheelDiameter>0.170</wheelDiameter>
    <robotBaseFrame>base_link</robotBaseFrame>
    <torque>20</torque>
    <topicName>cmd_vel</topicName>
    <broadcastTF>false</broadcastTF>
  </plugin>
</gazebo>

<gazebo>
  <plugin name="skid_steer_drive_controller" filename="libgazebo_ros_skid_steer_drive.so">
    <updateRate>100.0</updateRate>
    <robotNamespace>/</robotNamespace>
    <leftFrontJoint>l6_joint</leftFrontJoint>
    <rightFrontJoint>r6_joint</rightFrontJoint>
    <leftRearJoint>l5_joint</leftRearJoint>
    <rightRearJoint>r5_joint</rightRearJoint>
    <wheelSeparation>0.55</wheelSeparation>
    <wheelDiameter>0.170</wheelDiameter>
    <robotBaseFrame>base_link</robotBaseFrame>
    <torque>20</torque>
    <topicName>cmd_vel</topicName>
    <broadcastTF>false</broadcastTF>
  </plugin>
</gazebo>

<gazebo>
  <plugin name="skid_steer_drive_controller" filename="libgazebo_ros_skid_steer_drive.so">
    <updateRate>100.0</updateRate>
    <robotNamespace>/</robotNamespace>
    <leftFrontJoint>l8_joint</leftFrontJoint>
    <rightFrontJoint>r8_joint</rightFrontJoint>
    <leftRearJoint>l7_joint</leftRearJoint>
    <rightRearJoint>r7_joint</rightRearJoint>
    <wheelSeparation>0.55</wheelSeparation>
    <wheelDiameter>0.170</wheelDiameter>
    <robotBaseFrame>base_link</robotBaseFrame>
    <torque>20</torque>
    <topicName>cmd_vel</topicName>
    <broadcastTF>false</broadcastTF>
  </plugin>
</gazebo>

<gazebo>
  <plugin name="skid_steer_drive_controller" filename="libgazebo_ros_skid_steer_drive.so">
    <updateRate>100.0</updateRate>
    <robotNamespace>/</robotNamespace>
    <leftFrontJoint>l10_joint</leftFrontJoint>
    <rightFrontJoint>r10_joint</rightFrontJoint>
    <leftRearJoint>l9_joint</leftRearJoint>
    <rightRearJoint>r9_joint</rightRearJoint>
    <wheelSeparation>0.55</wheelSeparation>
    <wheelDiameter>0.170</wheelDiameter>
    <robotBaseFrame>base_link</robotBaseFrame>
    <torque>20</torque>
    <topicName>cmd_vel</topicName>
    <broadcastTF>false</broadcastTF>
  </plugin>
</gazebo>

<gazebo>
  <plugin name="skid_steer_drive_controller" filename="libgazebo_ros_skid_steer_drive.so">
    <updateRate>100.0</updateRate>
    <robotNamespace>/</robotNamespace>
    <leftFrontJoint>l12_joint</leftFrontJoint>
    <rightFrontJoint>r12_joint</rightFrontJoint>
    <leftRearJoint>l11_joint</leftRearJoint>
    <rightRearJoint>r11_joint</rightRearJoint>
    <wheelSeparation>0.55</wheelSeparation>
    <wheelDiameter>0.170</wheelDiameter>
    <robotBaseFrame>base_link</robotBaseFrame>
    <torque>20</torque>
    <topicName>cmd_vel</topicName>
    <broadcastTF>false</broadcastTF>
  </plugin>
</gazebo>

<gazebo>
  <plugin name="skid_steer_drive_controller" filename="libgazebo_ros_skid_steer_drive.so">
    <updateRate>100.0</updateRate>
    <robotNamespace>/</robotNamespace>
    <leftFrontJoint>l14_joint</leftFrontJoint>
    <rightFrontJoint>r14_joint</rightFrontJoint>
    <leftRearJoint>l13_joint</leftRearJoint>
    <rightRearJoint>r13_joint</rightRearJoint>
    <wheelSeparation>0.55</wheelSeparation>
    <wheelDiameter>0.170</wheelDiameter>
    <robotBaseFrame>base_link</robotBaseFrame>
    <torque>20</torque>
    <topicName>cmd_vel</topicName>
    <broadcastTF>false</broadcastTF>
  </plugin>
</gazebo>

<gazebo>
  <plugin name="skid_steer_drive_controller" filename="libgazebo_ros_skid_steer_drive.so">
    <updateRate>100.0</updateRate>
    <robotNamespace>/</robotNamespace>
    <leftFrontJoint>l16_joint</leftFrontJoint>
    <rightFrontJoint>r16_joint</rightFrontJoint>
    <leftRearJoint>l15_joint</leftRearJoint>
    <rightRearJoint>r15_joint</rightRearJoint>
    <wheelSeparation>0.55</wheelSeparation>
    <wheelDiameter>0.170</wheelDiameter>
    <robotBaseFrame>base_link</robotBaseFrame>
    <torque>20</torque>
    <topicName>cmd_vel</topicName>
    <broadcastTF>false</broadcastTF>
  </plugin>
</gazebo>

<gazebo>
  <plugin name="skid_steer_drive_controller" filename="libgazebo_ros_skid_steer_drive.so">
    <updateRate>100.0</updateRate>
    <robotNamespace>/</robotNamespace>
    <leftFrontJoint>l18_joint</leftFrontJoint>
    <rightFrontJoint>r18_joint</rightFrontJoint>
    <leftRearJoint>l17_joint</leftRearJoint>
    <rightRearJoint>r17_joint</rightRearJoint>
    <wheelSeparation>0.55</wheelSeparation>
    <wheelDiameter>0.170</wheelDiameter>
    <robotBaseFrame>base_link</robotBaseFrame>
    <torque>20</torque>
    <topicName>cmd_vel</topicName>
    <broadcastTF>false</broadcastTF>
  </plugin>
</gazebo>

<gazebo>
  <plugin name="skid_steer_drive_controller" filename="libgazebo_ros_skid_steer_drive.so">
    <updateRate>100.0</updateRate>
    <robotNamespace>/</robotNamespace>
    <leftFrontJoint>l20_joint</leftFrontJoint>
    <rightFrontJoint>r20_joint</rightFrontJoint>
    <leftRearJoint>l19_joint</leftRearJoint>
    <rightRearJoint>r19_joint</rightRearJoint>
    <wheelSeparation>0.55</wheelSeparation>
    <wheelDiameter>0.170</wheelDiameter>
    <robotBaseFrame>base_link</robotBaseFrame>
    <torque>20</torque>
    <topicName>cmd_vel</topicName>
    <broadcastTF>false</broadcastTF>
  </plugin>
</gazebo>

<gazebo>
  <plugin name="skid_steer_drive_controller" filename="libgazebo_ros_skid_steer_drive.so">
    <updateRate>100.0</updateRate>
    <robotNamespace>/</robotNamespace>
    <leftFrontJoint>l22_joint</leftFrontJoint>
    <rightFrontJoint>r22_joint</rightFrontJoint>
    <leftRearJoint>l21_joint</leftRearJoint>
    <rightRearJoint>r21_joint</rightRearJoint>
    <wheelSeparation>0.55</wheelSeparation>
    <wheelDiameter>0.170</wheelDiameter>
    <robotBaseFrame>base_link</robotBaseFrame>
    <torque>20</torque>
    <topicName>cmd_vel</topicName>
    <broadcastTF>false</broadcastTF>
  </plugin>
</gazebo>

<gazebo>
  <plugin name="skid_steer_drive_controller" filename="libgazebo_ros_skid_steer_drive.so">
    <updateRate>100.0</updateRate>
    <robotNamespace>/</robotNamespace>
    <leftFrontJoint>l24_joint</leftFrontJoint>
    <rightFrontJoint>r24_joint</rightFrontJoint>
    <leftRearJoint>l23_joint</leftRearJoint>
    <rightRearJoint>r23_joint</rightRearJoint>
    <wheelSeparation>0.55</wheelSeparation>
    <wheelDiameter>0.170</wheelDiameter>
    <robotBaseFrame>base_link</robotBaseFrame>
    <torque>20</torque>
    <topicName>cmd_vel</topicName>
    <broadcastTF>false</broadcastTF>
  </plugin>
</gazebo>

<gazebo>
  <plugin name="skid_steer_drive_controller" filename="libgazebo_ros_skid_steer_drive.so">
    <updateRate>100.0</updateRate>
    <robotNamespace>/</robotNamespace>
    <leftFrontJoint>l26_joint</leftFrontJoint>
    <rightFrontJoint>r26_joint</rightFrontJoint>
    <leftRearJoint>l25_joint</leftRearJoint>
    <rightRearJoint>r25_joint</rightRearJoint>
    <wheelSeparation>0.55</wheelSeparation>
    <wheelDiameter>0.170</wheelDiameter>
    <robotBaseFrame>base_link</robotBaseFrame>
    <torque>20</torque>
    <topicName>cmd_vel</topicName>
    <broadcastTF>false</broadcastTF>
  </plugin>
</gazebo>

<gazebo>
  <plugin name="skid_steer_drive_controller" filename="libgazebo_ros_skid_steer_drive.so">
    <updateRate>100.0</updateRate>
    <robotNamespace>/</robotNamespace>
    <leftFrontJoint>l28_joint</leftFrontJoint>
    <rightFrontJoint>r28_joint</rightFrontJoint>
    <leftRearJoint>l27_joint</leftRearJoint>
    <rightRearJoint>r27_joint</rightRearJoint>
    <wheelSeparation>0.55</wheelSeparation>
    <wheelDiameter>0.170</wheelDiameter>
    <robotBaseFrame>base_link</robotBaseFrame>
    <torque>20</torque>
    <topicName>cmd_vel</topicName>
    <broadcastTF>false</broadcastTF>
  </plugin>
</gazebo>

 <gazebo reference="LC_link">
    <kp>1000000.0</kp> <!-- kp and kd for rubber -->
    <kd>10.0</kd>
    <mu1>0.4</mu1> <!-- was 10 -->
    <mu2>1.0</mu2>
<fdir1>0 1 0</fdir1>
      <!-- how to get these into <surface><friction><ode>... ?
        slip1 0.5 /slip1 
         slip2 0 /slip2 
      -->
    <!-- fdir1 0 1 0 /fdir1 --> <!-- see http://github.com/MobileRobots/amr-ros-config/issues/6 -->
    <maxVel>1.0</maxVel>
    <minDepth>0.00</minDepth>
  </gazebo>

   <gazebo reference="LR_link">
    <kp>1000000.0</kp> <!-- kp and kd for rubber -->
    <kd>10.0</kd>
    <mu1>0.4</mu1> <!-- was 10 -->
    <mu2>1.0</mu2>
<fdir1>0 1 0</fdir1>
      <!-- how to get these into <surface><friction><ode>... ?
        slip1 0.5 /slip1 
         slip2 0 /slip2 
      -->
    <!-- fdir1 0 1 0 /fdir1 --> <!-- see http://github.com/MobileRobots/amr-ros-config/issues/6 -->
    <maxVel>1.0</maxVel>
    <minDepth>0.00</minDepth>
  </gazebo>

   <gazebo reference="RC_link">
    <kp>1000000.0</kp> <!-- kp and kd for rubber -->
    <kd>10.0</kd>
    <mu1>0.4</mu1> <!-- was 10 -->
    <mu2>1.0</mu2>
<fdir1>0 1 0</fdir1>
      <!-- how to get these into <surface><friction><ode>... ?
        slip1 0.5 /slip1 
         slip2 0 /slip2 
      -->
    <!-- fdir1 0 1 0 /fdir1 --> <!-- see http://github.com/MobileRobots/amr-ros-config/issues/6 -->
    <maxVel>1.0</maxVel>
    <minDepth>0.00</minDepth>
  </gazebo>

   <gazebo reference="RR_link">
    <kp>1000000.0</kp> <!-- kp and kd for rubber -->
    <kd>10.0</kd>
    <mu1>0.4</mu1> <!-- was 10 -->
    <mu2>1.0</mu2>
<fdir1>0 1 0</fdir1>
      <!-- how to get these into <surface><friction><ode>... ?
        slip1 0.5 /slip1 
         slip2 0 /slip2 
      -->
    <!-- fdir1 0 1 0 /fdir1 --> <!-- see http://github.com/MobileRobots/amr-ros-config/issues/6 -->
    <maxVel>1.0</maxVel>
    <minDepth>0.00</minDepth>
  </gazebo>


   <gazebo reference="r1_link">
    <kp>1000000.0</kp> <!-- kp and kd for rubber -->
    <kd>100.0</kd>
    <mu1>0.4</mu1> <!-- was 10 -->
    <mu2>1.0</mu2>
    <fdir1>0 1 0</fdir1>
      <!-- how to get these into <surface><friction><ode>... ?
        slip1 0.5 /slip1 
         slip2 0 /slip2 
      -->
    <!-- fdir1 0 1 0 /fdir1 --> <!-- see http://github.com/MobileRobots/amr-ros-config/issues/6 -->
    <maxVel>1.0</maxVel>
    <minDepth>0.00</minDepth>
  </gazebo>

   <gazebo reference="r2_link">
    <kp>1000000.0</kp> <!-- kp and kd for rubber -->
    <kd>100.0</kd>
    <mu1>0.4</mu1> <!-- was 10 -->
    <mu2>1.0</mu2>
    <fdir1>0 1 0</fdir1>
      <!-- how to get these into <surface><friction><ode>... ?
        slip1 0.5 /slip1 
         slip2 0 /slip2 
      -->
    <!-- fdir1 0 1 0 /fdir1 --> <!-- see http://github.com/MobileRobots/amr-ros-config/issues/6 -->
    <maxVel>1.0</maxVel>
    <minDepth>0.00</minDepth>
  </gazebo>

   <gazebo reference="r3_link">
    <kp>1000000.0</kp> <!-- kp and kd for rubber -->
    <kd>100.0</kd>
    <mu1>0.4</mu1> <!-- was 10 -->
    <mu2>1.0</mu2>
    <fdir1>0 1 0</fdir1>
      <!-- how to get these into <surface><friction><ode>... ?
        slip1 0.5 /slip1 
         slip2 0 /slip2 
      -->
    <!-- fdir1 0 1 0 /fdir1 --> <!-- see http://github.com/MobileRobots/amr-ros-config/issues/6 -->
    <maxVel>1.0</maxVel>
    <minDepth>0.00</minDepth>
  </gazebo>

   <gazebo reference="r4_link">
    <kp>1000000.0</kp> <!-- kp and kd for rubber -->
    <kd>100.0</kd>
    <mu1>0.4</mu1> <!-- was 10 -->
    <mu2>1.0</mu2>
    <fdir1>0 1 0</fdir1>
      <!-- how to get these into <surface><friction><ode>... ?
        slip1 0.5 /slip1 
         slip2 0 /slip2 
      -->
    <!-- fdir1 0 1 0 /fdir1 --> <!-- see http://github.com/MobileRobots/amr-ros-config/issues/6 -->
    <maxVel>1.0</maxVel>
    <minDepth>0.00</minDepth>
  </gazebo>

   <gazebo reference="r5_link">
    <kp>1000000.0</kp> <!-- kp and kd for rubber -->
    <kd>100.0</kd>
    <mu1>0.4</mu1> <!-- was 10 -->
    <mu2>1.0</mu2>
    <fdir1>0 1 0</fdir1>
      <!-- how to get these into <surface><friction><ode>... ?
        slip1 0.5 /slip1 
         slip2 0 /slip2 
      -->
    <!-- fdir1 0 1 0 /fdir1 --> <!-- see http://github.com/MobileRobots/amr-ros-config/issues/6 -->
    <maxVel>1.0</maxVel>
    <minDepth>0.00</minDepth>
  </gazebo>

   <gazebo reference="r6_link">
    <kp>1000000.0</kp> <!-- kp and kd for rubber -->
    <kd>100.0</kd>
    <mu1>0.4</mu1> <!-- was 10 -->
    <mu2>1.0</mu2>
    <fdir1>0 1 0</fdir1>
      <!-- how to get these into <surface><friction><ode>... ?
        slip1 0.5 /slip1 
         slip2 0 /slip2 
      -->
    <!-- fdir1 0 1 0 /fdir1 --> <!-- see http://github.com/MobileRobots/amr-ros-config/issues/6 -->
    <maxVel>1.0</maxVel>
    <minDepth>0.00</minDepth>
  </gazebo>

   <gazebo reference="r7_link">
    <kp>1000000.0</kp> <!-- kp and kd for rubber -->
    <kd>100.0</kd>
    <mu1>0.4</mu1> <!-- was 10 -->
    <mu2>1.0</mu2>
    <fdir1>0 1 0</fdir1>
      <!-- how to get these into <surface><friction><ode>... ?
        slip1 0.5 /slip1 
         slip2 0 /slip2 
      -->
    <!-- fdir1 0 1 0 /fdir1 --> <!-- see http://github.com/MobileRobots/amr-ros-config/issues/6 -->
    <maxVel>1.0</maxVel>
    <minDepth>0.00</minDepth>
  </gazebo>

   <gazebo reference="r8_link">
    <kp>1000000.0</kp> <!-- kp and kd for rubber -->
    <kd>100.0</kd>
    <mu1>0.4</mu1> <!-- was 10 -->
    <mu2>1.0</mu2>
    <fdir1>0 1 0</fdir1>
      <!-- how to get these into <surface><friction><ode>... ?
        slip1 0.5 /slip1 
         slip2 0 /slip2 
      -->
    <!-- fdir1 0 1 0 /fdir1 --> <!-- see http://github.com/MobileRobots/amr-ros-config/issues/6 -->
    <maxVel>1.0</maxVel>
    <minDepth>0.00</minDepth>
  </gazebo>

   <gazebo reference="r9_link">
    <kp>1000000.0</kp> <!-- kp and kd for rubber -->
    <kd>100.0</kd>
    <mu1>0.4</mu1> <!-- was 10 -->
    <mu2>1.0</mu2>
    <fdir1>0 1 0</fdir1>
      <!-- how to get these into <surface><friction><ode>... ?
        slip1 0.5 /slip1 
         slip2 0 /slip2 
      -->
    <!-- fdir1 0 1 0 /fdir1 --> <!-- see http://github.com/MobileRobots/amr-ros-config/issues/6 -->
    <maxVel>1.0</maxVel>
    <minDepth>0.00</minDepth>
  </gazebo>

   <gazebo reference="r10_link">
    <kp>1000000.0</kp> <!-- kp and kd for rubber -->
    <kd>100.0</kd>
    <mu1>0.4</mu1> <!-- was 10 -->
    <mu2>1.0</mu2>
    <fdir1>0 1 0</fdir1>
      <!-- how to get these into <surface><friction><ode>... ?
        slip1 0.5 /slip1 
         slip2 0 /slip2 
      -->
    <!-- fdir1 0 1 0 /fdir1 --> <!-- see http://github.com/MobileRobots/amr-ros-config/issues/6 -->
    <maxVel>1.0</maxVel>
    <minDepth>0.00</minDepth>
  </gazebo>

   <gazebo reference="r11_link">
    <kp>1000000.0</kp> <!-- kp and kd for rubber -->
    <kd>100.0</kd>
    <mu1>0.4</mu1> <!-- was 10 -->
    <mu2>1.0</mu2>
    <fdir1>0 1 0</fdir1>
      <!-- how to get these into <surface><friction><ode>... ?
        slip1 0.5 /slip1 
         slip2 0 /slip2 
      -->
    <!-- fdir1 0 1 0 /fdir1 --> <!-- see http://github.com/MobileRobots/amr-ros-config/issues/6 -->
    <maxVel>1.0</maxVel>
    <minDepth>0.00</minDepth>
  </gazebo>

   <gazebo reference="r12_link">
    <kp>1000000.0</kp> <!-- kp and kd for rubber -->
    <kd>100.0</kd>
    <mu1>0.4</mu1> <!-- was 10 -->
    <mu2>1.0</mu2>
    <fdir1>0 1 0</fdir1>
      <!-- how to get these into <surface><friction><ode>... ?
        slip1 0.5 /slip1 
         slip2 0 /slip2 
      -->
    <!-- fdir1 0 1 0 /fdir1 --> <!-- see http://github.com/MobileRobots/amr-ros-config/issues/6 -->
    <maxVel>1.0</maxVel>
    <minDepth>0.00</minDepth>
  </gazebo>

   <gazebo reference="r13_link">
    <kp>1000000.0</kp> <!-- kp and kd for rubber -->
    <kd>100.0</kd>
    <mu1>0.4</mu1> <!-- was 10 -->
    <mu2>1.0</mu2>
    <fdir1>0 1 0</fdir1>
      <!-- how to get these into <surface><friction><ode>... ?
        slip1 0.5 /slip1 
         slip2 0 /slip2 
      -->
    <!-- fdir1 0 1 0 /fdir1 --> <!-- see http://github.com/MobileRobots/amr-ros-config/issues/6 -->
    <maxVel>1.0</maxVel>
    <minDepth>0.00</minDepth>
  </gazebo>

   <gazebo reference="r14_link">
    <kp>1000000.0</kp> <!-- kp and kd for rubber -->
    <kd>100.0</kd>
    <mu1>0.4</mu1> <!-- was 10 -->
    <mu2>1.0</mu2>
    <fdir1>0 1 0</fdir1>
      <!-- how to get these into <surface><friction><ode>... ?
        slip1 0.5 /slip1 
         slip2 0 /slip2 
      -->
    <!-- fdir1 0 1 0 /fdir1 --> <!-- see http://github.com/MobileRobots/amr-ros-config/issues/6 -->
    <maxVel>1.0</maxVel>
    <minDepth>0.00</minDepth>
  </gazebo>

   <gazebo reference="r15_link">
    <kp>1000000.0</kp> <!-- kp and kd for rubber -->
    <kd>100.0</kd>
    <mu1>0.4</mu1> <!-- was 10 -->
    <mu2>1.0</mu2>
    <fdir1>0 1 0</fdir1>
      <!-- how to get these into <surface><friction><ode>... ?
        slip1 0.5 /slip1 
         slip2 0 /slip2 
      -->
    <!-- fdir1 0 1 0 /fdir1 --> <!-- see http://github.com/MobileRobots/amr-ros-config/issues/6 -->
    <maxVel>1.0</maxVel>
    <minDepth>0.00</minDepth>
  </gazebo>

   <gazebo reference="r16_link">
    <kp>1000000.0</kp> <!-- kp and kd for rubber -->
    <kd>100.0</kd>
    <mu1>0.4</mu1> <!-- was 10 -->
    <mu2>1.0</mu2>
    <fdir1>0 1 0</fdir1>
      <!-- how to get these into <surface><friction><ode>... ?
        slip1 0.5 /slip1 
         slip2 0 /slip2 
      -->
    <!-- fdir1 0 1 0 /fdir1 --> <!-- see http://github.com/MobileRobots/amr-ros-config/issues/6 -->
    <maxVel>1.0</maxVel>
    <minDepth>0.00</minDepth>
  </gazebo>

   <gazebo reference="r17_link">
    <kp>1000000.0</kp> <!-- kp and kd for rubber -->
    <kd>100.0</kd>
    <mu1>0.4</mu1> <!-- was 10 -->
    <mu2>1.0</mu2>
    <fdir1>0 1 0</fdir1>
      <!-- how to get these into <surface><friction><ode>... ?
        slip1 0.5 /slip1 
         slip2 0 /slip2 
      -->
    <!-- fdir1 0 1 0 /fdir1 --> <!-- see http://github.com/MobileRobots/amr-ros-config/issues/6 -->
    <maxVel>1.0</maxVel>
    <minDepth>0.00</minDepth>
  </gazebo>

   <gazebo reference="r18_link">
    <kp>1000000.0</kp> <!-- kp and kd for rubber -->
    <kd>100.0</kd>
    <mu1>0.4</mu1> <!-- was 10 -->
    <mu2>1.0</mu2>
    <fdir1>0 1 0</fdir1>
      <!-- how to get these into <surface><friction><ode>... ?
        slip1 0.5 /slip1 
         slip2 0 /slip2 
      -->
    <!-- fdir1 0 1 0 /fdir1 --> <!-- see http://github.com/MobileRobots/amr-ros-config/issues/6 -->
    <maxVel>1.0</maxVel>
    <minDepth>0.00</minDepth>
  </gazebo>

   <gazebo reference="r19_link">
    <kp>1000000.0</kp> <!-- kp and kd for rubber -->
    <kd>100.0</kd>
    <mu1>0.4</mu1> <!-- was 10 -->
    <mu2>1.0</mu2>
    <fdir1>0 1 0</fdir1>
      <!-- how to get these into <surface><friction><ode>... ?
        slip1 0.5 /slip1 
         slip2 0 /slip2 
      -->
    <!-- fdir1 0 1 0 /fdir1 --> <!-- see http://github.com/MobileRobots/amr-ros-config/issues/6 -->
    <maxVel>1.0</maxVel>
    <minDepth>0.00</minDepth>
  </gazebo>

   <gazebo reference="r20_link">
    <kp>1000000.0</kp> <!-- kp and kd for rubber -->
    <kd>100.0</kd>
    <mu1>0.4</mu1> <!-- was 10 -->
    <mu2>1.0</mu2>
    <fdir1>0 1 0</fdir1>
      <!-- how to get these into <surface><friction><ode>... ?
        slip1 0.5 /slip1 
         slip2 0 /slip2 
      -->
    <!-- fdir1 0 1 0 /fdir1 --> <!-- see http://github.com/MobileRobots/amr-ros-config/issues/6 -->
    <maxVel>1.0</maxVel>
    <minDepth>0.00</minDepth>
  </gazebo>

   <gazebo reference="r21_link">
    <kp>1000000.0</kp> <!-- kp and kd for rubber -->
    <kd>100.0</kd>
    <mu1>0.4</mu1> <!-- was 10 -->
    <mu2>1.0</mu2>
    <fdir1>0 1 0</fdir1>
      <!-- how to get these into <surface><friction><ode>... ?
        slip1 0.5 /slip1 
         slip2 0 /slip2 
      -->
    <!-- fdir1 0 1 0 /fdir1 --> <!-- see http://github.com/MobileRobots/amr-ros-config/issues/6 -->
    <maxVel>1.0</maxVel>
    <minDepth>0.00</minDepth>
  </gazebo>

   <gazebo reference="r22_link">
    <kp>1000000.0</kp> <!-- kp and kd for rubber -->
    <kd>100.0</kd>
    <mu1>0.4</mu1> <!-- was 10 -->
    <mu2>1.0</mu2>
    <fdir1>0 1 0</fdir1>
      <!-- how to get these into <surface><friction><ode>... ?
        slip1 0.5 /slip1 
         slip2 0 /slip2 
      -->
    <!-- fdir1 0 1 0 /fdir1 --> <!-- see http://github.com/MobileRobots/amr-ros-config/issues/6 -->
    <maxVel>1.0</maxVel>
    <minDepth>0.00</minDepth>
  </gazebo>

   <gazebo reference="r23_link">
    <kp>1000000.0</kp> <!-- kp and kd for rubber -->
    <kd>100.0</kd>
    <mu1>0.4</mu1> <!-- was 10 -->
    <mu2>1.0</mu2>
    <fdir1>0 1 0</fdir1>
      <!-- how to get these into <surface><friction><ode>... ?
        slip1 0.5 /slip1 
         slip2 0 /slip2 
      -->
    <!-- fdir1 0 1 0 /fdir1 --> <!-- see http://github.com/MobileRobots/amr-ros-config/issues/6 -->
    <maxVel>1.0</maxVel>
    <minDepth>0.00</minDepth>
  </gazebo>

   <gazebo reference="r24_link">
    <kp>1000000.0</kp> <!-- kp and kd for rubber -->
    <kd>100.0</kd>
    <mu1>0.4</mu1> <!-- was 10 -->
    <mu2>1.0</mu2>
    <fdir1>0 1 0</fdir1>
      <!-- how to get these into <surface><friction><ode>... ?
        slip1 0.5 /slip1 
         slip2 0 /slip2 
      -->
    <!-- fdir1 0 1 0 /fdir1 --> <!-- see http://github.com/MobileRobots/amr-ros-config/issues/6 -->
    <maxVel>1.0</maxVel>
    <minDepth>0.00</minDepth>
  </gazebo>

   <gazebo reference="r25_link">
    <kp>1000000.0</kp> <!-- kp and kd for rubber -->
    <kd>100.0</kd>
    <mu1>0.4</mu1> <!-- was 10 -->
    <mu2>1.0</mu2>
    <fdir1>0 1 0</fdir1>
      <!-- how to get these into <surface><friction><ode>... ?
        slip1 0.5 /slip1 
         slip2 0 /slip2 
      -->
    <!-- fdir1 0 1 0 /fdir1 --> <!-- see http://github.com/MobileRobots/amr-ros-config/issues/6 -->
    <maxVel>1.0</maxVel>
    <minDepth>0.00</minDepth>
  </gazebo>

   <gazebo reference="r26_link">
    <kp>1000000.0</kp> <!-- kp and kd for rubber -->
    <kd>100.0</kd>
    <mu1>0.4</mu1> <!-- was 10 -->
    <mu2>1.0</mu2>
    <fdir1>0 1 0</fdir1>
      <!-- how to get these into <surface><friction><ode>... ?
        slip1 0.5 /slip1 
         slip2 0 /slip2 
      -->
    <!-- fdir1 0 1 0 /fdir1 --> <!-- see http://github.com/MobileRobots/amr-ros-config/issues/6 -->
    <maxVel>1.0</maxVel>
    <minDepth>0.00</minDepth>
  </gazebo>

   <gazebo reference="r27_link">
    <kp>1000000.0</kp> <!-- kp and kd for rubber -->
    <kd>100.0</kd>
    <mu1>0.4</mu1> <!-- was 10 -->
    <mu2>1.0</mu2>
    <fdir1>0 1 0</fdir1>
      <!-- how to get these into <surface><friction><ode>... ?
        slip1 0.5 /slip1 
         slip2 0 /slip2 
      -->
    <!-- fdir1 0 1 0 /fdir1 --> <!-- see http://github.com/MobileRobots/amr-ros-config/issues/6 -->
    <maxVel>1.0</maxVel>
    <minDepth>0.00</minDepth>
  </gazebo>

   <gazebo reference="r28_link">
    <kp>1000000.0</kp> <!-- kp and kd for rubber -->
    <kd>100.0</kd>
    <mu1>0.4</mu1> <!-- was 10 -->
    <mu2>1.0</mu2>
    <fdir1>0 1 0</fdir1>
      <!-- how to get these into <surface><friction><ode>... ?
        slip1 0.5 /slip1 
         slip2 0 /slip2 
      -->
    <!-- fdir1 0 1 0 /fdir1 --> <!-- see http://github.com/MobileRobots/amr-ros-config/issues/6 -->
    <maxVel>1.0</maxVel>
    <minDepth>0.00</minDepth>
  </gazebo>

   <gazebo reference="l1_link">
    <kp>1000000.0</kp> <!-- kp and kd for rubber -->
    <kd>100.0</kd>
    <mu1>0.4</mu1> <!-- was 10 -->
    <mu2>1.0</mu2>
    <fdir1>0 1 0</fdir1>
      <!-- how to get these into <surface><friction><ode>... ?
        slip1 0.5 /slip1 
         slip2 0 /slip2 
      -->
    <!-- fdir1 0 1 0 /fdir1 --> <!-- see http://github.com/MobileRobots/amr-ros-config/issues/6 -->
    <maxVel>1.0</maxVel>
    <minDepth>0.00</minDepth>
  </gazebo>

   <gazebo reference="l2_link">
    <kp>1000000.0</kp> <!-- kp and kd for rubber -->
    <kd>100.0</kd>
    <mu1>0.4</mu1> <!-- was 10 -->
    <mu2>1.0</mu2>
    <fdir1>0 1 0</fdir1>
      <!-- how to get these into <surface><friction><ode>... ?
        slip1 0.5 /slip1 
         slip2 0 /slip2 
      -->
    <!-- fdir1 0 1 0 /fdir1 --> <!-- see http://github.com/MobileRobots/amr-ros-config/issues/6 -->
    <maxVel>1.0</maxVel>
    <minDepth>0.00</minDepth>
  </gazebo>

   <gazebo reference="l3_link">
    <kp>1000000.0</kp> <!-- kp and kd for rubber -->
    <kd>100.0</kd>
    <mu1>0.4</mu1> <!-- was 10 -->
    <mu2>1.0</mu2>
    <fdir1>0 1 0</fdir1>
      <!-- how to get these into <surface><friction><ode>... ?
        slip1 0.5 /slip1 
         slip2 0 /slip2 
      -->
    <!-- fdir1 0 1 0 /fdir1 --> <!-- see http://github.com/MobileRobots/amr-ros-config/issues/6 -->
    <maxVel>1.0</maxVel>
    <minDepth>0.00</minDepth>
  </gazebo>

   <gazebo reference="l4_link">
    <kp>1000000.0</kp> <!-- kp and kd for rubber -->
    <kd>100.0</kd>
    <mu1>0.4</mu1> <!-- was 10 -->
    <mu2>1.0</mu2>
    <fdir1>0 1 0</fdir1>
      <!-- how to get these into <surface><friction><ode>... ?
        slip1 0.5 /slip1 
         slip2 0 /slip2 
      -->
    <!-- fdir1 0 1 0 /fdir1 --> <!-- see http://github.com/MobileRobots/amr-ros-config/issues/6 -->
    <maxVel>1.0</maxVel>
    <minDepth>0.00</minDepth>
  </gazebo>

   <gazebo reference="l5_link">
    <kp>1000000.0</kp> <!-- kp and kd for rubber -->
    <kd>100.0</kd>
    <mu1>0.4</mu1> <!-- was 10 -->
    <mu2>1.0</mu2>
    <fdir1>0 1 0</fdir1>
      <!-- how to get these into <surface><friction><ode>... ?
        slip1 0.5 /slip1 
         slip2 0 /slip2 
      -->
    <!-- fdir1 0 1 0 /fdir1 --> <!-- see http://github.com/MobileRobots/amr-ros-config/issues/6 -->
    <maxVel>1.0</maxVel>
    <minDepth>0.00</minDepth>
  </gazebo>

   <gazebo reference="l6_link">
    <kp>1000000.0</kp> <!-- kp and kd for rubber -->
    <kd>100.0</kd>
    <mu1>0.4</mu1> <!-- was 10 -->
    <mu2>1.0</mu2>
    <fdir1>0 1 0</fdir1>
      <!-- how to get these into <surface><friction><ode>... ?
        slip1 0.5 /slip1 
         slip2 0 /slip2 
      -->
    <!-- fdir1 0 1 0 /fdir1 --> <!-- see http://github.com/MobileRobots/amr-ros-config/issues/6 -->
    <maxVel>1.0</maxVel>
    <minDepth>0.00</minDepth>
  </gazebo>

   <gazebo reference="l7_link">
    <kp>1000000.0</kp> <!-- kp and kd for rubber -->
    <kd>100.0</kd>
    <mu1>0.4</mu1> <!-- was 10 -->
    <mu2>1.0</mu2>
    <fdir1>0 1 0</fdir1>
      <!-- how to get these into <surface><friction><ode>... ?
        slip1 0.5 /slip1 
         slip2 0 /slip2 
      -->
    <!-- fdir1 0 1 0 /fdir1 --> <!-- see http://github.com/MobileRobots/amr-ros-config/issues/6 -->
    <maxVel>1.0</maxVel>
    <minDepth>0.00</minDepth>
  </gazebo>

   <gazebo reference="l8_link">
    <kp>1000000.0</kp> <!-- kp and kd for rubber -->
    <kd>100.0</kd>
    <mu1>0.4</mu1> <!-- was 10 -->
    <mu2>1.0</mu2>
    <fdir1>0 1 0</fdir1>
      <!-- how to get these into <surface><friction><ode>... ?
        slip1 0.5 /slip1 
         slip2 0 /slip2 
      -->
    <!-- fdir1 0 1 0 /fdir1 --> <!-- see http://github.com/MobileRobots/amr-ros-config/issues/6 -->
    <maxVel>1.0</maxVel>
    <minDepth>0.00</minDepth>
  </gazebo>

   <gazebo reference="l9_link">
    <kp>1000000.0</kp> <!-- kp and kd for rubber -->
    <kd>100.0</kd>
    <mu1>0.4</mu1> <!-- was 10 -->
    <mu2>1.0</mu2>
    <fdir1>0 1 0</fdir1>
      <!-- how to get these into <surface><friction><ode>... ?
        slip1 0.5 /slip1 
         slip2 0 /slip2 
      -->
    <!-- fdir1 0 1 0 /fdir1 --> <!-- see http://github.com/MobileRobots/amr-ros-config/issues/6 -->
    <maxVel>1.0</maxVel>
    <minDepth>0.00</minDepth>
  </gazebo>

   <gazebo reference="l10_link">
    <kp>1000000.0</kp> <!-- kp and kd for rubber -->
    <kd>100.0</kd>
    <mu1>0.4</mu1> <!-- was 10 -->
    <mu2>1.0</mu2>
    <fdir1>0 1 0</fdir1>
      <!-- how to get these into <surface><friction><ode>... ?
        slip1 0.5 /slip1 
         slip2 0 /slip2 
      -->
    <!-- fdir1 0 1 0 /fdir1 --> <!-- see http://github.com/MobileRobots/amr-ros-config/issues/6 -->
    <maxVel>1.0</maxVel>
    <minDepth>0.00</minDepth>
  </gazebo>

   <gazebo reference="l11_link">
    <kp>1000000.0</kp> <!-- kp and kd for rubber -->
    <kd>100.0</kd>
    <mu1>0.4</mu1> <!-- was 10 -->
    <mu2>1.0</mu2>
    <fdir1>0 1 0</fdir1>
      <!-- how to get these into <surface><friction><ode>... ?
        slip1 0.5 /slip1 
         slip2 0 /slip2 
      -->
    <!-- fdir1 0 1 0 /fdir1 --> <!-- see http://github.com/MobileRobots/amr-ros-config/issues/6 -->
    <maxVel>1.0</maxVel>
    <minDepth>0.00</minDepth>
  </gazebo>

   <gazebo reference="l12_link">
    <kp>1000000.0</kp> <!-- kp and kd for rubber -->
    <kd>100.0</kd>
    <mu1>0.4</mu1> <!-- was 10 -->
    <mu2>1.0</mu2>
    <fdir1>0 1 0</fdir1>
      <!-- how to get these into <surface><friction><ode>... ?
        slip1 0.5 /slip1 
         slip2 0 /slip2 
      -->
    <!-- fdir1 0 1 0 /fdir1 --> <!-- see http://github.com/MobileRobots/amr-ros-config/issues/6 -->
    <maxVel>1.0</maxVel>
    <minDepth>0.00</minDepth>
  </gazebo>

   <gazebo reference="l13_link">
    <kp>1000000.0</kp> <!-- kp and kd for rubber -->
    <kd>100.0</kd>
    <mu1>0.4</mu1> <!-- was 10 -->
    <mu2>1.0</mu2>
    <fdir1>0 1 0</fdir1>
      <!-- how to get these into <surface><friction><ode>... ?
        slip1 0.5 /slip1 
         slip2 0 /slip2 
      -->
    <!-- fdir1 0 1 0 /fdir1 --> <!-- see http://github.com/MobileRobots/amr-ros-config/issues/6 -->
    <maxVel>1.0</maxVel>
    <minDepth>0.00</minDepth>
  </gazebo>

   <gazebo reference="l14_link">
    <kp>1000000.0</kp> <!-- kp and kd for rubber -->
    <kd>100.0</kd>
    <mu1>0.4</mu1> <!-- was 10 -->
    <mu2>1.0</mu2>
    <fdir1>0 1 0</fdir1>
      <!-- how to get these into <surface><friction><ode>... ?
        slip1 0.5 /slip1 
         slip2 0 /slip2 
      -->
    <!-- fdir1 0 1 0 /fdir1 --> <!-- see http://github.com/MobileRobots/amr-ros-config/issues/6 -->
    <maxVel>1.0</maxVel>
    <minDepth>0.00</minDepth>
  </gazebo>

   <gazebo reference="l15_link">
    <kp>1000000.0</kp> <!-- kp and kd for rubber -->
    <kd>100.0</kd>
    <mu1>0.4</mu1> <!-- was 10 -->
    <mu2>1.0</mu2>
    <fdir1>0 1 0</fdir1>
      <!-- how to get these into <surface><friction><ode>... ?
        slip1 0.5 /slip1 
         slip2 0 /slip2 
      -->
    <!-- fdir1 0 1 0 /fdir1 --> <!-- see http://github.com/MobileRobots/amr-ros-config/issues/6 -->
    <maxVel>1.0</maxVel>
    <minDepth>0.00</minDepth>
  </gazebo>

   <gazebo reference="l16_link">
    <kp>1000000.0</kp> <!-- kp and kd for rubber -->
    <kd>100.0</kd>
    <mu1>0.4</mu1> <!-- was 10 -->
    <mu2>1.0</mu2>
    <fdir1>0 1 0</fdir1>
      <!-- how to get these into <surface><friction><ode>... ?
        slip1 0.5 /slip1 
         slip2 0 /slip2 
      -->
    <!-- fdir1 0 1 0 /fdir1 --> <!-- see http://github.com/MobileRobots/amr-ros-config/issues/6 -->
    <maxVel>1.0</maxVel>
    <minDepth>0.00</minDepth>
  </gazebo>

   <gazebo reference="l17_link">
    <kp>1000000.0</kp> <!-- kp and kd for rubber -->
    <kd>100.0</kd>
    <mu1>0.4</mu1> <!-- was 10 -->
    <mu2>1.0</mu2>
    <fdir1>0 1 0</fdir1>
      <!-- how to get these into <surface><friction><ode>... ?
        slip1 0.5 /slip1 
         slip2 0 /slip2 
      -->
    <!-- fdir1 0 1 0 /fdir1 --> <!-- see http://github.com/MobileRobots/amr-ros-config/issues/6 -->
    <maxVel>1.0</maxVel>
    <minDepth>0.00</minDepth>
  </gazebo>

   <gazebo reference="l18_link">
    <kp>1000000.0</kp> <!-- kp and kd for rubber -->
    <kd>100.0</kd>
    <mu1>0.4</mu1> <!-- was 10 -->
    <mu2>1.0</mu2>
    <fdir1>0 1 0</fdir1>
      <!-- how to get these into <surface><friction><ode>... ?
        slip1 0.5 /slip1 
         slip2 0 /slip2 
      -->
    <!-- fdir1 0 1 0 /fdir1 --> <!-- see http://github.com/MobileRobots/amr-ros-config/issues/6 -->
    <maxVel>1.0</maxVel>
    <minDepth>0.00</minDepth>
  </gazebo>

   <gazebo reference="l19_link">
    <kp>1000000.0</kp> <!-- kp and kd for rubber -->
    <kd>100.0</kd>
    <mu1>0.4</mu1> <!-- was 10 -->
    <mu2>1.0</mu2>
    <fdir1>0 1 0</fdir1>
      <!-- how to get these into <surface><friction><ode>... ?
        slip1 0.5 /slip1 
         slip2 0 /slip2 
      -->
    <!-- fdir1 0 1 0 /fdir1 --> <!-- see http://github.com/MobileRobots/amr-ros-config/issues/6 -->
    <maxVel>1.0</maxVel>
    <minDepth>0.00</minDepth>
  </gazebo>

   <gazebo reference="l20_link">
    <kp>1000000.0</kp> <!-- kp and kd for rubber -->
    <kd>100.0</kd>
    <mu1>0.4</mu1> <!-- was 10 -->
    <mu2>1.0</mu2>
    <fdir1>0 1 0</fdir1>
      <!-- how to get these into <surface><friction><ode>... ?
        slip1 0.5 /slip1 
         slip2 0 /slip2 
      -->
    <!-- fdir1 0 1 0 /fdir1 --> <!-- see http://github.com/MobileRobots/amr-ros-config/issues/6 -->
    <maxVel>1.0</maxVel>
    <minDepth>0.00</minDepth>
  </gazebo>

   <gazebo reference="l21_link">
    <kp>1000000.0</kp> <!-- kp and kd for rubber -->
    <kd>100.0</kd>
    <mu1>0.4</mu1> <!-- was 10 -->
    <mu2>1.0</mu2>
    <fdir1>0 1 0</fdir1>
      <!-- how to get these into <surface><friction><ode>... ?
        slip1 0.5 /slip1 
         slip2 0 /slip2 
      -->
    <!-- fdir1 0 1 0 /fdir1 --> <!-- see http://github.com/MobileRobots/amr-ros-config/issues/6 -->
    <maxVel>1.0</maxVel>
    <minDepth>0.00</minDepth>
  </gazebo>

   <gazebo reference="l22_link">
    <kp>1000000.0</kp> <!-- kp and kd for rubber -->
    <kd>100.0</kd>
    <mu1>0.4</mu1> <!-- was 10 -->
    <mu2>1.0</mu2>
    <fdir1>0 1 0</fdir1>
      <!-- how to get these into <surface><friction><ode>... ?
        slip1 0.5 /slip1 
         slip2 0 /slip2 
      -->
    <!-- fdir1 0 1 0 /fdir1 --> <!-- see http://github.com/MobileRobots/amr-ros-config/issues/6 -->
    <maxVel>1.0</maxVel>
    <minDepth>0.00</minDepth>
  </gazebo>

   <gazebo reference="l23_link">
    <kp>1000000.0</kp> <!-- kp and kd for rubber -->
    <kd>100.0</kd>
    <mu1>0.4</mu1> <!-- was 10 -->
    <mu2>1.0</mu2>
    <fdir1>0 1 0</fdir1>
      <!-- how to get these into <surface><friction><ode>... ?
        slip1 0.5 /slip1 
         slip2 0 /slip2 
      -->
    <!-- fdir1 0 1 0 /fdir1 --> <!-- see http://github.com/MobileRobots/amr-ros-config/issues/6 -->
    <maxVel>1.0</maxVel>
    <minDepth>0.00</minDepth>
  </gazebo>

   <gazebo reference="l24_link">
    <kp>1000000.0</kp> <!-- kp and kd for rubber -->
    <kd>100.0</kd>
    <mu1>0.4</mu1> <!-- was 10 -->
    <mu2>1.0</mu2>
    <fdir1>0 1 0</fdir1>
      <!-- how to get these into <surface><friction><ode>... ?
        slip1 0.5 /slip1 
         slip2 0 /slip2 
      -->
    <!-- fdir1 0 1 0 /fdir1 --> <!-- see http://github.com/MobileRobots/amr-ros-config/issues/6 -->
    <maxVel>1.0</maxVel>
    <minDepth>0.00</minDepth>
  </gazebo>

   <gazebo reference="l25_link">
    <kp>1000000.0</kp> <!-- kp and kd for rubber -->
    <kd>100.0</kd>
    <mu1>0.4</mu1> <!-- was 10 -->
    <mu2>1.0</mu2>
    <fdir1>0 1 0</fdir1>
      <!-- how to get these into <surface><friction><ode>... ?
        slip1 0.5 /slip1 
         slip2 0 /slip2 
      -->
    <!-- fdir1 0 1 0 /fdir1 --> <!-- see http://github.com/MobileRobots/amr-ros-config/issues/6 -->
    <maxVel>1.0</maxVel>
    <minDepth>0.00</minDepth>
  </gazebo>

   <gazebo reference="l26_link">
    <kp>1000000.0</kp> <!-- kp and kd for rubber -->
    <kd>100.0</kd>
    <mu1>0.4</mu1> <!-- was 10 -->
    <mu2>1.0</mu2>
    <fdir1>0 1 0</fdir1>
      <!-- how to get these into <surface><friction><ode>... ?
        slip1 0.5 /slip1 
         slip2 0 /slip2 
      -->
    <!-- fdir1 0 1 0 /fdir1 --> <!-- see http://github.com/MobileRobots/amr-ros-config/issues/6 -->
    <maxVel>1.0</maxVel>
    <minDepth>0.00</minDepth>
  </gazebo>

   <gazebo reference="l27_link">
    <kp>1000000.0</kp> <!-- kp and kd for rubber -->
    <kd>100.0</kd>
    <mu1>0.4</mu1> <!-- was 10 -->
    <mu2>1.0</mu2>
    <fdir1>0 1 0</fdir1>
      <!-- how to get these into <surface><friction><ode>... ?
        slip1 0.5 /slip1 
         slip2 0 /slip2 
      -->
    <!-- fdir1 0 1 0 /fdir1 --> <!-- see http://github.com/MobileRobots/amr-ros-config/issues/6 -->
    <maxVel>1.0</maxVel>
    <minDepth>0.00</minDepth>
  </gazebo>

   <gazebo reference="l28_link">
    <kp>1000000.0</kp> <!-- kp and kd for rubber -->
    <kd>100.0</kd>
    <mu1>0.4</mu1> <!-- was 10 -->
    <mu2>1.0</mu2>
    <fdir1>0 1 0</fdir1>
      <!-- how to get these into <surface><friction><ode>... ?
        slip1 0.5 /slip1 
         slip2 0 /slip2 
      -->
    <!-- fdir1 0 1 0 /fdir1 --> <!-- see http://github.com/MobileRobots/amr-ros-config/issues/6 -->
    <maxVel>1.0</maxVel>
    <minDepth>0.00</minDepth>
  </gazebo>

</robot>
